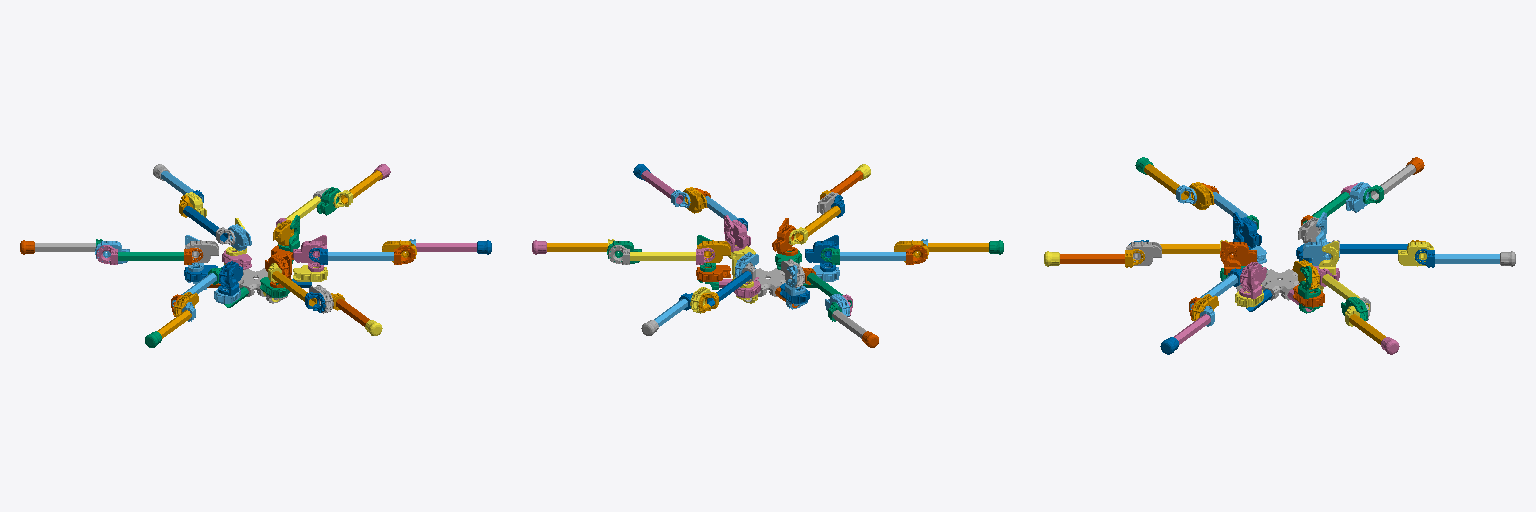
--- Facts derived from the render (not from the file) ---
3 views of the same robot in one strip: view 1: azimuth 30°, elevation 25°; view 2: azimuth 150°, elevation 25°; view 3: azimuth 270°, elevation 25° (orthographic).
Robot: HEBI_Hexapod_1 — 74 links, 73 joints (18 revolute, 55 fixed); root link base_link; default pose: all joints at 0.
Visible links, largest first — view 1: tubepar_60Z, tubepar_54Z, tubepar_57Z, tubepar_47Z; view 2: tubepar_20Z, tubepar_33Z, a_2095_01_6Z, tubepar_17Z, tubepar_26Z; view 3: a_2095_01_6Z, tubepar_36Z, tubepar_66Z, tubepar_73Z, tubepar_39Z, hebi_x5_4_43Z, hebi_x5_4_71Z.
Boxes of the visible links, bbox=[...] form: tubepar_60Z: bbox=[328, 252, 393, 260]; tubepar_54Z: bbox=[118, 252, 183, 260]; tubepar_57Z: bbox=[416, 243, 476, 251]; tubepar_47Z: bbox=[35, 243, 95, 251]; tubepar_20Z: bbox=[840, 252, 905, 260]; tubepar_33Z: bbox=[630, 252, 695, 260]; a_2095_01_6Z: bbox=[756, 268, 785, 296]; tubepar_17Z: bbox=[928, 243, 988, 251]; tubepar_26Z: bbox=[547, 243, 607, 251]; a_2095_01_6Z: bbox=[1261, 269, 1299, 300]; tubepar_36Z: bbox=[1060, 254, 1124, 263]; tubepar_66Z: bbox=[1435, 254, 1499, 263]; tubepar_73Z: bbox=[1340, 244, 1407, 253]; tubepar_39Z: bbox=[1160, 244, 1219, 253]; hebi_x5_4_43Z: bbox=[1126, 241, 1161, 265]; hebi_x5_4_71Z: bbox=[1398, 242, 1433, 266].
Bounding box of the posed robot: 1.31 × 1.39 × 0.1725 m (x, y, z).
Meshes: 73 distinct files referenced, 71 mesh visuals loaded (71 binary STL); not drawn: 2 (reference not matched to a file when rendering).

The robot description file, URDF, robot "HEBI_Hexapod_1":
<?xml version="1.0" ?>
<robot name="HEBI_Hexapod_1">
  <!--
  <link name="world"/>
  <joint name="world_base_link" type="fixed">
    <parent link="world"/>
    <child link="base_link"/>
  </joint>
 -->
  <!--Joints-->
  <joint name="base_link_to_a_2095_01_6Z" type="fixed">
    <parent link="base_link"/>
    <child link="a_2095_01_6Z"/>
  </joint>
  <joint name="a_2095_01_6Z_to_tubepar_11Z" type="fixed">
    <parent link="a_2095_01_6Z"/>
    <child link="tubepar_11Z"/>
    <origin rpy="2.09439510229 -1.57079632679 0.0" xyz="-0.0433012701559 -0.0250000000011 -0.001"/>
  </joint>
  <joint name="tubepar_11Z_to_a_2039_02_10Z" type="fixed">
    <parent link="tubepar_11Z"/>
    <child link="a_2039_02_10Z"/>
    <origin rpy="1.57079632679 2.49978080284e-14 1.57079632679" xyz="-1.66780753732e-18 0.127 -7.1054273576e-18"/>
  </joint>
  <joint name="a_2039_02_10Z_to_hebi_x5_4_16Z" type="fixed">
    <parent link="a_2039_02_10Z"/>
    <child link="hebi_x5_4_16Z"/>
    <origin rpy="1.22464679915e-16 1.04083409e-17 2.3106904246e-14" xyz="0.014 8.42557231529e-17 0.02"/>
  </joint>
  <joint name="Leg6/Hip/X5_4" type="revolute">
    <parent link="hebi_x5_4_16Z"/>
    <child link="a_2070_01r_23Z"/>
    <axis xyz="2.0207829073e-17 -2.27765793957e-16 1.0"/>
    <dynamics damping="0.5" friction="0.06"/>
    <limit effort="100" lower="-0.60" upper="0.60" velocity="100"/>
    <origin rpy="0.0 -3.34767643574e-17 3.14159265359" xyz="6.40449343592e-17 -1.06407608566e-17 0.03"/>
  </joint>
  <gazebo reference="Leg6/Hip/X5_4">
    <implicitSpringDamper>True</implicitSpringDamper>
  </gazebo>
  <joint name="a_2070_01r_23Z_to_hebi_x5_9_18Z" type="fixed">
    <parent link="a_2070_01r_23Z"/>
    <child link="hebi_x5_9_18Z"/>
    <origin rpy="1.57079632679 -6.16297582204e-33 3.14159265359" xyz="-8.631169369e-17 -0.0225277504 0.055"/>
  </joint>
  <joint name="Leg6/Knee/X5_9" type="revolute">
    <parent link="hebi_x5_9_18Z"/>
    <child link="a_2038_02_21Z"/>
    <axis xyz="0.0 -2.27765793957e-16 1.0"/>
    <dynamics damping="0.5" friction="0.06"/>
    <limit effort="100" lower="-0.7" upper="1.6" velocity="100"/>
    <origin rpy="0.0 -1.89345633518e-17 0.0" xyz="-4.61852778244e-17 -6.83297381872e-18 0.03"/>
  </joint>
  <gazebo reference="Leg6/Knee/X5_9">
    <implicitSpringDamper>True</implicitSpringDamper>
  </gazebo>
  <joint name="a_2038_02_21Z_to_tubepar_20Z" type="fixed">
    <parent link="a_2038_02_21Z"/>
    <child link="tubepar_20Z"/>
    <origin rpy="1.57079632679 -1.57079632679 0.0" xyz="0.0135 -9.06738292808e-19 0.02"/>
  </joint>
  <joint name="tubepar_20Z_to_a_2039_02_19Z" type="fixed">
    <parent link="tubepar_20Z"/>
    <child link="a_2039_02_19Z"/>
    <origin rpy="1.57079632679 2.50240867501e-14 -1.57079632679" xyz="-1.42108547152e-17 -0.254 -3.37030956224e-18"/>
  </joint>
  <joint name="a_2039_02_19Z_to_hebi_x5_4_24Z" type="fixed">
    <parent link="a_2039_02_19Z"/>
    <child link="hebi_x5_4_24Z"/>
    <origin rpy="1.22464679915e-16 1.89345633518e-17 2.50240867501e-14" xyz="0.014 3.32405432175e-16 0.02"/>
  </joint>
  <joint name="Leg6/Ankle/X5_4" type="revolute">
    <parent link="hebi_x5_4_24Z"/>
    <child link="a_2038_02_22Z"/>
    <axis xyz="1.11022302463e-15 -2.20826899957e-16 1.0"/>
    <dynamics damping="0.5" friction="0.06"/>
    <limit effort="100" lower="-2.8" upper="2.8" velocity="100"/>
    <origin rpy="6.16297582204e-33 1.89345633518e-17 -3.08148791102e-33" xyz="-5.86197757002e-17 -6.62480699872e-18 0.03"/>
  </joint>
  <gazebo reference="Leg6/Ankle/X5_4">
    <implicitSpringDamper>True</implicitSpringDamper>
  </gazebo>
  <joint name="a_2038_02_22Z_to_tubepar_17Z" type="fixed">
    <parent link="a_2038_02_22Z"/>
    <child link="tubepar_17Z"/>
    <origin rpy="1.57079632679 -1.57079632679 0.0" xyz="0.0135 -1.12622166549e-18 0.02"/>
  </joint>
  <joint name="tubepar_17Z_to_pp_2057_01_44Z" type="fixed">
    <parent link="tubepar_17Z"/>
    <child link="pp_2057_01_44Z"/>
    <origin rpy="-1.57079632679 -1.57079632679 5.09231249648e-17" xyz="-4.26325641456e-17 -0.254 3.37030956224e-18"/>
  </joint>
  <joint name="a_2095_01_6Z_to_tubepar_5Z" type="fixed">
    <parent link="a_2095_01_6Z"/>
    <child link="tubepar_5Z"/>
    <origin rpy="3.14159265359 -1.57079632679 0.0" xyz="1e-23 -0.05 -0.001"/>
  </joint>
  <joint name="tubepar_5Z_to_a_2039_02_12Z" type="fixed">
    <parent link="tubepar_5Z"/>
    <child link="a_2039_02_12Z"/>
    <origin rpy="1.57079632679 2.50240867501e-14 1.57079632679" xyz="1.78563570607e-18 0.076 -5.55111124636e-18"/>
  </joint>
  <joint name="a_2039_02_12Z_to_hebi_x5_4_35Z" type="fixed">
    <parent link="a_2039_02_12Z"/>
    <child link="hebi_x5_4_35Z"/>
    <origin rpy="1.22464679915e-16 1.04083409e-17 2.47905995925e-14" xyz="0.014 3.24017024904e-16 0.02"/>
  </joint>
  <joint name="Leg4/Hip/X5_4" type="revolute">
    <parent link="hebi_x5_4_35Z"/>
    <child link="a_2070_01r_42Z"/>
    <axis xyz="5.08239990574e-17 -1.73472348e-16 1.0"/>
    <dynamics damping="0.5" friction="0.06"/>
    <limit effort="100" lower="-0.60" upper="0.60" velocity="100"/>
    <origin rpy="-1.23259516441e-32 -3.34767643574e-17 3.14159265359" xyz="-5.53186988891e-17 -2.96636102637e-18 0.03"/>
  </joint>
  <gazebo reference="Leg4/Hip/X5_4">
    <implicitSpringDamper>True</implicitSpringDamper>
  </gazebo>
  <joint name="a_2070_01r_42Z_to_hebi_x5_9_37Z" type="fixed">
    <parent link="a_2070_01r_42Z"/>
    <child link="hebi_x5_9_37Z"/>
    <origin rpy="1.57079632679 9.24446373306e-33 3.14159265359" xyz="-1.06622141481e-16 -0.0225277504 0.055"/>
  </joint>
  <joint name="Leg4/Knee/X5_9" type="revolute">
    <parent link="hebi_x5_9_37Z"/>
    <child link="a_2038_02_40Z"/>
    <axis xyz="4.0677583653e-16 -2.27765793957e-16 1.0"/>
    <dynamics damping="0.5" friction="0.06"/>
    <limit effort="100" lower="-0.7" upper="1.6" velocity="100"/>
    <origin rpy="0.0 -2.77555756e-17 0.0" xyz="-7.30618531953e-17 -6.83297381872e-18 0.03"/>
  </joint>
  <gazebo reference="Leg4/Knee/X5_9">
    <implicitSpringDamper>True</implicitSpringDamper>
  </gazebo>
  <joint name="a_2038_02_40Z_to_tubepar_39Z" type="fixed">
    <parent link="a_2038_02_40Z"/>
    <child link="tubepar_39Z"/>
    <origin rpy="1.57079632679 -1.57079632679 0.0" xyz="0.0135 -1.3200565876e-18 0.02"/>
  </joint>
  <joint name="tubepar_39Z_to_a_2039_02_38Z" type="fixed">
    <parent link="tubepar_39Z"/>
    <child link="a_2039_02_38Z"/>
    <origin rpy="1.57079632679 2.50240867501e-14 -1.57079632679" xyz="-3.78956831697e-18 -0.254 4.4061976138e-18"/>
  </joint>
  <joint name="a_2039_02_38Z_to_hebi_x5_4_43Z" type="fixed">
    <parent link="a_2039_02_38Z"/>
    <child link="hebi_x5_4_43Z"/>
    <origin rpy="1.22464679915e-16 1.04083409e-17 2.50240867501e-14" xyz="0.014 3.32834058554e-16 0.02"/>
  </joint>
  <joint name="Leg4/Ankle/X5_4" type="revolute">
    <parent link="hebi_x5_4_43Z"/>
    <child link="a_2038_02_41Z"/>
    <axis xyz="-4.4493975303e-16 -2.20826899957e-16 1.0"/>
    <dynamics damping="0.5" friction="0.06"/>
    <limit effort="100" lower="-2.8" upper="2.8" velocity="100"/>
    <origin rpy="0.0 -2.77555756e-17 0.0" xyz="-7.01916114517e-17 -6.62480699872e-18 0.03"/>
  </joint>
  <gazebo reference="Leg4/Ankle/X5_4">
    <implicitSpringDamper>True</implicitSpringDamper>
  </gazebo>
  <joint name="a_2038_02_41Z_to_tubepar_36Z" type="fixed">
    <parent link="a_2038_02_41Z"/>
    <child link="tubepar_36Z"/>
    <origin rpy="1.57079632679 -1.57079632679 0.0" xyz="0.0135 -1.49237580859e-17 0.02"/>
  </joint>
  <joint name="tubepar_36Z_to_pp_2057_01_45Z" type="fixed">
    <parent link="tubepar_36Z"/>
    <child link="pp_2057_01_45Z"/>
    <origin rpy="-1.57079632679 -1.57079632679 3.88726144769e-19" xyz="6.48879806078e-18 -0.254 9.8046571014e-18"/>
  </joint>
  <joint name="a_2095_01_6Z_to_tubepar_1Z" type="fixed">
    <parent link="a_2095_01_6Z"/>
    <child link="tubepar_1Z"/>
    <origin rpy="-2.09439510229 -1.57079632679 0.0" xyz="0.0433012702137 -0.0249999999987 -0.001"/>
  </joint>
  <joint name="tubepar_1Z_to_a_2039_02_7Z" type="fixed">
    <parent link="tubepar_1Z"/>
    <child link="a_2039_02_7Z"/>
    <origin rpy="1.57079632679 2.50167657815e-14 1.57079632679" xyz="-1.77882983978e-18 0.127 1.29164951977e-34"/>
  </joint>
  <joint name="a_2039_02_7Z_to_hebi_x5_4_56Z" type="fixed">
    <parent link="a_2039_02_7Z"/>
    <child link="hebi_x5_4_56Z"/>
    <origin rpy="1.22464679915e-16 1.04083409e-17 2.30249982575e-14" xyz="0.014 7.18212252771e-17 0.02"/>
  </joint>
  <joint name="Leg2/Hip/X5_4" type="revolute">
    <parent link="hebi_x5_4_56Z"/>
    <child link="a_2070_01r_63Z"/>
    <axis xyz="2.0207829073e-17 -2.27765793957e-16 1.0"/>
    <dynamics damping="0.5" friction="0.06"/>
    <limit effort="100" lower="-0.60" upper="0.60" velocity="100"/>
    <origin rpy="0.0 -3.34767643574e-17 3.14159265359" xyz="6.40449343592e-17 -3.02518678086e-18 0.03"/>
  </joint>
  <gazebo reference="Leg2/Hip/X5_4">
    <implicitSpringDamper>True</implicitSpringDamper>
  </gazebo>
  <joint name="a_2070_01r_63Z_to_hebi_x5_9_58Z" type="fixed">
    <parent link="a_2070_01r_63Z"/>
    <child link="hebi_x5_9_58Z"/>
    <origin rpy="1.57079632679 -0.0 3.14159265359" xyz="-1.36049685193e-16 -0.0225277504 0.055"/>
  </joint>
  <joint name="Leg2/Knee/X5_9" type="revolute">
    <parent link="hebi_x5_9_58Z"/>
    <child link="a_2038_02_61Z"/>
    <axis xyz="1.88737914186e-15 -2.27765793957e-16 1.0"/>
    <dynamics damping="0.5" friction="0.06"/>
    <limit effort="100" lower="-0.7" upper="1.6" velocity="100"/>
    <origin rpy="6.16297582204e-33 6.56929018481e-17 7.70371977755e-33" xyz="-5.3290705182e-17 -6.83297381872e-18 0.03"/>
  </joint>
  <gazebo reference="Leg2/Knee/X5_9">
    <implicitSpringDamper>True</implicitSpringDamper>
  </gazebo>
  <joint name="a_2038_02_61Z_to_tubepar_60Z" type="fixed">
    <parent link="a_2038_02_61Z"/>
    <child link="tubepar_60Z"/>
    <origin rpy="1.57079632679 -1.57079632679 0.0" xyz="0.0135 -9.06738292808e-19 0.02"/>
  </joint>
  <joint name="tubepar_60Z_to_a_2039_02_59Z" type="fixed">
    <parent link="tubepar_60Z"/>
    <child link="a_2039_02_59Z"/>
    <origin rpy="1.57079632679 2.50240867501e-14 -1.57079632679" xyz="0.0 -0.254 -3.37030956224e-18"/>
  </joint>
  <joint name="a_2039_02_59Z_to_hebi_x5_4_64Z" type="fixed">
    <parent link="a_2039_02_59Z"/>
    <child link="hebi_x5_4_64Z"/>
    <origin rpy="1.22464679915e-16 -6.56929018481e-17 2.50240867501e-14" xyz="0.014 3.32405432175e-16 0.02"/>
  </joint>
  <joint name="Leg2/Ankle/X5_4" type="revolute">
    <parent link="hebi_x5_4_64Z"/>
    <child link="a_2038_02_62Z"/>
    <axis xyz="-4.99600361081e-16 -2.20826899957e-16 1.0"/>
    <dynamics damping="0.5" friction="0.06"/>
    <limit effort="100" lower="-2.8" upper="2.8" velocity="100"/>
    <origin rpy="0.0 -6.56929018481e-17 -6.16297582204e-33" xyz="-5.68434188608e-17 -6.62480699872e-18 0.03"/>
  </joint>
  <gazebo reference="Leg2/Ankle/X5_4">
    <implicitSpringDamper>True</implicitSpringDamper>
  </gazebo>
  <joint name="a_2038_02_62Z_to_tubepar_57Z" type="fixed">
    <parent link="a_2038_02_62Z"/>
    <child link="tubepar_57Z"/>
    <origin rpy="1.57079632679 -1.57079632679 0.0" xyz="0.0135 -1.12622166549e-18 0.02"/>
  </joint>
  <joint name="tubepar_57Z_to_pp_2057_01_14Z" type="fixed">
    <parent link="tubepar_57Z"/>
    <child link="pp_2057_01_14Z"/>
    <origin rpy="-1.57079632679 -1.57079632679 -2.54615624824e-17" xyz="2.84217094304e-17 -0.254 3.37030956224e-18"/>
  </joint>
  <joint name="a_2095_01_6Z_to_tubepar_9Z" type="fixed">
    <parent link="a_2095_01_6Z"/>
    <child link="tubepar_9Z"/>
    <origin rpy="-2.09439510229 -1.57079632679 0.0" xyz="-0.0433012701559 0.0250000000011 -0.001"/>
  </joint>
  <joint name="tubepar_9Z_to_a_2039_02_13Z" type="fixed">
    <parent link="tubepar_9Z"/>
    <child link="a_2039_02_13Z"/>
    <origin rpy="-1.57079632679 -2.50167657815e-14 -1.57079632679" xyz="1.13495302842e-19 -0.127 2.27373675443e-16"/>
  </joint>
  <joint name="a_2039_02_13Z_to_hebi_x5_4_53Z" type="fixed">
    <parent link="a_2039_02_13Z"/>
    <child link="hebi_x5_4_53Z"/>
    <origin rpy="1.22464679915e-16 1.04083409e-17 2.30249982575e-14" xyz="0.014 3.08964863337e-16 0.02"/>
  </joint>
  <joint name="Leg5/Hip/X5_4" type="revolute">
    <parent link="hebi_x5_4_53Z"/>
    <child link="a_2070_01l_48Z"/>
    <axis xyz="-4.1024510873e-17 -2.27765793957e-16 1.0"/>
    <dynamics damping="0.5" friction="0.06"/>
    <limit effort="100" lower="-0.60" upper="0.60" velocity="100"/>
    <origin rpy="-1.23259516441e-32 8.89879155574e-17 3.14159265359" xyz="6.22079641608e-17 -3.02518678086e-18 0.03"/>
  </joint>
  <gazebo reference="Leg5/Hip/X5_4">
    <implicitSpringDamper>True</implicitSpringDamper>
  </gazebo>
  <joint name="a_2070_01l_48Z_to_hebi_x5_9_46Z" type="fixed">
    <parent link="a_2070_01l_48Z"/>
    <child link="hebi_x5_9_46Z"/>
    <origin rpy="-1.57079632679 6.12323399574e-17 -3.14159265359" xyz="-5.94814061184e-17 0.0225 0.055"/>
  </joint>
  <joint name="Leg5/Knee/X5_9" type="revolute">
    <parent link="hebi_x5_9_46Z"/>
    <child link="a_2038_02_50Z"/>
    <axis xyz="-1.05471187339e-15 -2.27765793957e-16 1.0"/>
    <dynamics damping="0.5" friction="0.06"/>
    <limit effort="100" lower="-1.6" upper="0.7" velocity="100"/>
    <origin rpy="6.16297582204e-33 -5.08187337107e-17 1.54074395551e-33" xyz="-7.1054273576e-18 -6.83297381872e-18 0.03"/>
  </joint>
  <gazebo reference="Leg5/Knee/X5_9">
    <implicitSpringDamper>True</implicitSpringDamper>
  </gazebo>
  <joint name="a_2038_02_50Z_to_tubepar_54Z" type="fixed">
    <parent link="a_2038_02_50Z"/>
    <child link="tubepar_54Z"/>
    <origin rpy="1.57079632679 -1.57079632679 0.0" xyz="0.0135 -1.26499954533e-18 0.02"/>
  </joint>
  <joint name="tubepar_54Z_to_a_2039_02_51Z" type="fixed">
    <parent link="tubepar_54Z"/>
    <child link="a_2039_02_51Z"/>
    <origin rpy="1.57079632679 2.50240867501e-14 -1.57079632679" xyz="1.42108547152e-17 -0.254 3.37030955933e-18"/>
  </joint>
  <joint name="a_2039_02_51Z_to_hebi_x5_4_52Z" type="fixed">
    <parent link="a_2039_02_51Z"/>
    <child link="hebi_x5_4_52Z"/>
    <origin rpy="1.22464679915e-16 5.08187337107e-17 2.50240867501e-14" xyz="0.014 3.46987817078e-16 0.02"/>
  </joint>
  <joint name="Leg5/Ankle/X5_4" type="revolute">
    <parent link="hebi_x5_4_52Z"/>
    <child link="a_2038_02_49Z"/>
    <axis xyz="3.33066907388e-16 -2.20826899957e-16 1.0"/>
    <dynamics damping="0.5" friction="0.06"/>
    <limit effort="100" lower="-2.8" upper="2.8" velocity="100"/>
    <origin rpy="0.0 5.08187337107e-17 -4.62223186653e-33" xyz="-1.36779476634e-16 -6.62480699872e-18 0.03"/>
  </joint>
  <gazebo reference="Leg5/Ankle/X5_4">
    <implicitSpringDamper>True</implicitSpringDamper>
  </gazebo>
  <joint name="a_2038_02_49Z_to_tubepar_47Z" type="fixed">
    <parent link="a_2038_02_49Z"/>
    <child link="tubepar_47Z"/>
    <origin rpy="1.57079632679 -1.57079632679 0.0" xyz="0.0135 -7.67960412962e-19 0.02"/>
  </joint>
  <joint name="tubepar_47Z_to_pp_2057_01_55Z" type="fixed">
    <parent link="tubepar_47Z"/>
    <child link="pp_2057_01_55Z"/>
    <origin rpy="-1.57079632679 -1.57079632679 -1.04956059088e-16" xyz="1.42108547152e-17 -0.254 1.08405451559e-17"/>
  </joint>
  <joint name="a_2095_01_6Z_to_tubepar_4Z" type="fixed">
    <parent link="a_2095_01_6Z"/>
    <child link="tubepar_4Z"/>
    <origin rpy="2.09439510229 -1.57079632679 0.0" xyz="0.0433012701559 0.0250000000011 -0.001"/>
  </joint>
  <joint name="tubepar_4Z_to_a_2039_02_2Z" type="fixed">
    <parent link="tubepar_4Z"/>
    <child link="a_2039_02_2Z"/>
    <origin rpy="-1.57079632679 -2.49978080284e-14 -1.57079632679" xyz="1.13495302842e-19 -0.127 2.13162820728e-16"/>
  </joint>
  <joint name="a_2039_02_2Z_to_hebi_x5_4_32Z" type="fixed">
    <parent link="a_2039_02_2Z"/>
    <child link="hebi_x5_4_32Z"/>
    <origin rpy="1.22464679915e-16 1.04083409e-17 2.3106904246e-14" xyz="0.014 3.15182112275e-16 0.02"/>
  </joint>
  <joint name="Leg1/Hip/X5_4" type="revolute">
    <parent link="hebi_x5_4_32Z"/>
    <child link="a_2070_01l_27Z"/>
    <axis xyz="-4.1024510873e-17 -2.27765793957e-16 1.0"/>
    <dynamics damping="0.5" friction="0.06"/>
    <limit effort="100" lower="-0.60" upper="0.60" velocity="100"/>
    <origin rpy="-1.23259516441e-32 8.89879155574e-17 3.14159265359" xyz="6.22079641608e-17 -1.06407608566e-17 0.03"/>
  </joint>
  <gazebo reference="Leg1/Hip/X5_4">
    <implicitSpringDamper>True</implicitSpringDamper>
  </gazebo>
  <joint name="a_2070_01l_27Z_to_hebi_x5_9_25Z" type="fixed">
    <parent link="a_2070_01l_27Z"/>
    <child link="hebi_x5_9_25Z"/>
    <origin rpy="-1.57079632679 6.12323399574e-17 -3.14159265359" xyz="-3.1059696688e-17 0.0225 0.055"/>
  </joint>
  <joint name="Leg1/Knee/X5_9" type="revolute">
    <parent link="hebi_x5_9_25Z"/>
    <child link="a_2038_02_29Z"/>
    <axis xyz="1.11022302463e-16 -2.27765793957e-16 1.0"/>
    <dynamics damping="0.5" friction="0.06"/>
    <limit effort="100" lower="-1.6" upper="0.7" velocity="100"/>
    <origin rpy="6.16297582204e-33 -2.17024197421e-17 9.24446373306e-33" xyz="-4.26325641456e-17 -6.83297381872e-18 0.03"/>
  </joint>
  <gazebo reference="Leg1/Knee/X5_9">
    <implicitSpringDamper>True</implicitSpringDamper>
  </gazebo>
  <joint name="a_2038_02_29Z_to_tubepar_33Z" type="fixed">
    <parent link="a_2038_02_29Z"/>
    <child link="tubepar_33Z"/>
    <origin rpy="1.57079632679 -1.57079632679 0.0" xyz="0.0135 -1.26499954533e-18 0.02"/>
  </joint>
  <joint name="tubepar_33Z_to_a_2039_02_30Z" type="fixed">
    <parent link="tubepar_33Z"/>
    <child link="a_2039_02_30Z"/>
    <origin rpy="1.57079632679 2.50240867501e-14 -1.57079632679" xyz="1.42108547152e-17 -0.254 3.37030955933e-18"/>
  </joint>
  <joint name="a_2039_02_30Z_to_hebi_x5_4_31Z" type="fixed">
    <parent link="a_2039_02_30Z"/>
    <child link="hebi_x5_4_31Z"/>
    <origin rpy="1.22464679915e-16 2.17024197421e-17 2.50240867501e-14" xyz="0.014 3.46987817078e-16 0.02"/>
  </joint>
  <joint name="Leg1/Ankle/X5_4" type="revolute">
    <parent link="hebi_x5_4_31Z"/>
    <child link="a_2038_02_28Z"/>
    <axis xyz="2.33146835171e-15 -2.20826899957e-16 1.0"/>
    <dynamics damping="0.5" friction="0.06"/>
    <limit effort="100" lower="-2.8" upper="2.8" velocity="100"/>
    <origin rpy="6.16297582204e-33 2.17024197421e-17 4.62223186653e-33" xyz="-4.4408920985e-17 -6.62480699872e-18 0.03"/>
  </joint>
  <gazebo reference="Leg1/Ankle/X5_4">
    <implicitSpringDamper>True</implicitSpringDamper>
  </gazebo>
  <joint name="a_2038_02_28Z_to_tubepar_26Z" type="fixed">
    <parent link="a_2038_02_28Z"/>
    <child link="tubepar_26Z"/>
    <origin rpy="1.57079632679 -1.57079632679 0.0" xyz="0.0135 -7.67960412962e-19 0.02"/>
  </joint>
  <joint name="tubepar_26Z_to_pp_2057_01_15Z" type="fixed">
    <parent link="tubepar_26Z"/>
    <child link="pp_2057_01_15Z"/>
    <origin rpy="-1.57079632679 -1.57079632679 2.00193964556e-17" xyz="5.68434188608e-17 -0.254 1.08405451559e-17"/>
  </joint>
  <joint name="a_2095_01_6Z_to_tubepar_3Z" type="fixed">
    <parent link="a_2095_01_6Z"/>
    <child link="tubepar_3Z"/>
    <origin rpy="-3.14159265359 -1.57079632679 0.0" xyz="1e-23 0.05 -0.001"/>
  </joint>
  <joint name="tubepar_3Z_to_a_2039_02_8Z" type="fixed">
    <parent link="tubepar_3Z"/>
    <child link="a_2039_02_8Z"/>
    <origin rpy="-1.57079632679 -2.50240867501e-14 -1.57079632679" xyz="2.12765738259e-19 -0.076 -1.00000000003e-23"/>
  </joint>
  <joint name="a_2039_02_8Z_to_hebi_x5_4_72Z" type="fixed">
    <parent link="a_2039_02_8Z"/>
    <child link="hebi_x5_4_72Z"/>
    <origin rpy="1.22464679915e-16 1.04083409e-17 2.4901621895e-14" xyz="0.014 3.34009026003e-16 0.02"/>
  </joint>
  <joint name="Leg3/Hip/X5_4" type="revolute">
    <parent link="hebi_x5_4_72Z"/>
    <child link="a_2070_01l_67Z"/>
    <axis xyz="-7.16406808574e-17 -1.73472348e-16 1.0"/>
    <dynamics damping="0.5" friction="0.06"/>
    <limit effort="100" lower="-0.60" upper="0.60" velocity="100"/>
    <origin rpy="0.0 8.89879155574e-17 3.14159265359" xyz="-5.89926392865e-17 -2.96636102637e-18 0.03"/>
  </joint>
  <gazebo reference="Leg3/Hip/X5_4">
    <implicitSpringDamper>True</implicitSpringDamper>
  </gazebo>
  <joint name="a_2070_01l_67Z_to_hebi_x5_9_65Z" type="fixed">
    <parent link="a_2070_01l_67Z"/>
    <child link="hebi_x5_9_65Z"/>
    <origin rpy="-1.57079632679 6.12323399574e-17 -3.14159265359" xyz="-6.46501244623e-18 0.0225 0.055"/>
  </joint>
  <joint name="Leg3/Knee/X5_9" type="revolute">
    <parent link="hebi_x5_9_65Z"/>
    <child link="a_2038_02_69Z"/>
    <axis xyz="-1.94105535953e-16 -2.27765793957e-16 1.0"/>
    <dynamics damping="0.5" friction="0.06"/>
    <limit effort="100" lower="-1.6" upper="0.7" velocity="100"/>
    <origin rpy="0.0 -2.77555756e-17 0.0" xyz="-3.4244875509e-17 -6.83297381872e-18 0.03"/>
  </joint>
  <gazebo reference="Leg3/Knee/X5_9">
    <implicitSpringDamper>True</implicitSpringDamper>
  </gazebo>
  <joint name="a_2038_02_69Z_to_tubepar_73Z" type="fixed">
    <parent link="a_2038_02_69Z"/>
    <child link="tubepar_73Z"/>
    <origin rpy="1.57079632679 -1.57079632679 0.0" xyz="0.0135 -1.67831784012e-18 0.02"/>
  </joint>
  <joint name="tubepar_73Z_to_a_2039_02_70Z" type="fixed">
    <parent link="tubepar_73Z"/>
    <child link="a_2039_02_70Z"/>
    <origin rpy="1.57079632679 2.50240867501e-14 -1.57079632679" xyz="-3.79674216038e-19 -0.254 1.11468167354e-17"/>
  </joint>
  <joint name="a_2039_02_70Z_to_hebi_x5_4_71Z" type="fixed">
    <parent link="a_2039_02_70Z"/>
    <child link="hebi_x5_4_71Z"/>
    <origin rpy="1.22464679915e-16 1.04083409e-17 2.50240867501e-14" xyz="0.014 3.33205588742e-16 0.02"/>
  </joint>
  <joint name="Leg3/Ankle/X5_4" type="revolute">
    <parent link="hebi_x5_4_71Z"/>
    <child link="a_2038_02_68Z"/>
    <axis xyz="1.55941619453e-16 -2.20826899957e-16 1.0"/>
    <dynamics damping="0.5" friction="0.06"/>
    <limit effort="100" lower="-2.8" upper="2.8" velocity="100"/>
    <origin rpy="0.0 -2.77555756e-17 0.0" xyz="-5.21651702772e-17 -6.62480699872e-18 0.03"/>
  </joint>
  <gazebo reference="Leg3/Ankle/X5_4">
    <implicitSpringDamper>True</implicitSpringDamper>
  </gazebo>
  <joint name="a_2038_02_68Z_to_tubepar_66Z" type="fixed">
    <parent link="a_2038_02_68Z"/>
    <child link="tubepar_66Z"/>
    <origin rpy="1.57079632679 -1.57079632679 0.0" xyz="0.0135 -3.54642118173e-19 0.02"/>
  </joint>
  <joint name="tubepar_66Z_to_pp_2057_01_34Z" type="fixed">
    <parent link="tubepar_66Z"/>
    <child link="pp_2057_01_34Z"/>
    <origin rpy="-1.57079632679 -1.57079632679 0.0" xyz="1.01843313174e-17 -0.254 3.06403797983e-18"/>
  </joint>
  <!--Gazebo Plugins-->
  <gazebo>
    <plugin filename="libhebiros_gazebo_plugin.so" name="hebiros_gazebo_plugin"/>
  </gazebo>
  <!--Links-->
  <link name="base_link">
    <!--Transformation from CyPhy2CAD global reference frame to base_link-->
    <CyPhy2CAD>
      <CADAssembly_metrics>
        <RotationMatrix>
          <Row>
            <Column Value="1.0"/>
            <Column Value="0.0"/>
            <Column Value="0.0"/>
          </Row>
          <Row>
            <Column Value="0.0"/>
            <Column Value="1.0"/>
            <Column Value="0.0"/>
          </Row>
          <Row>
            <Column Value="0.0"/>
            <Column Value="0.0"/>
            <Column Value="1.0"/>
          </Row>
        </RotationMatrix>
        <Translation X="1e-20" Y="1e-20" Z="1e-20"/>
      </CADAssembly_metrics>
    </CyPhy2CAD>
  </link>
  <link name="a_2038_02_22Z">
    <visual>
      <origin rpy="0 0 0" xyz="0.0 0.0 0.0"/>
      <geometry>
        <mesh filename="package://hebihexapod_description/meshes/a_2038_02_22z_prt.stl" scale="0.001 0.001 0.001"/>
      </geometry>
    </visual>
    <collision>
      <origin rpy="0 0 0" xyz="0.0 0.0 0.0"/>
      <geometry>
        <mesh filename="package://hebihexapod_description/meshes/a_2038_02_22z_prt.stl" scale="0.001 0.001 0.001"/>
      </geometry>
    </collision>
    <inertial>
      <origin rpy="0 0 0" xyz="0.0176052907699 0.0 0.0142788404199"/>
      <mass value="0.059108249978877175"/>
      <inertia ixx="2.3632587043e-05" ixy="0.0" ixz="-3.93131579939e-06" iyy="2.03298829586e-05" iyz="0.0" izz="2.72912531732e-05"/>
    </inertial>
  </link>
  <gazebo reference="a_2038_02_22Z">
    <selfCollide>True</selfCollide>
    <material>Gazebo/Black</material>
    <mu1>0.1</mu1>
    <mu2>0.1</mu2>
    <kp>100000</kp>
    <kd>1</kd>
    <minDepth>0.001</minDepth>
    <maxVel>100</maxVel>
  </gazebo>
  <link name="a_2038_02_21Z">
    <visual>
      <origin rpy="0 0 0" xyz="3.88247770998e-17 1.07998184735e-33 -1.04030676747e-17"/>
      <geometry>
        <mesh filename="package://hebihexapod_description/meshes/a_2038_02_21z_prt.stl" scale="0.001 0.001 0.001"/>
      </geometry>
    </visual>
    <collision>
      <origin rpy="0 0 0" xyz="3.88247770998e-17 1.07998184735e-33 -1.04030676747e-17"/>
      <geometry>
        <mesh filename="package://hebihexapod_description/meshes/a_2038_02_21z_prt.stl" scale="0.001 0.001 0.001"/>
      </geometry>
    </collision>
    <inertial>
      <origin rpy="0 0 0" xyz="0.0176052907699 1.07998184735e-33 0.0142788404199"/>
      <mass value="0.059108249978877175"/>
      <inertia ixx="2.3632587043e-05" ixy="0.0" ixz="-3.93131579939e-06" iyy="2.03298829586e-05" iyz="0.0" izz="2.72912531732e-05"/>
    </inertial>
  </link>
  <gazebo reference="a_2038_02_21Z">
    <selfCollide>True</selfCollide>
    <material>Gazebo/Black</material>
    <mu1>0.1</mu1>
    <mu2>0.1</mu2>
    <kp>100000</kp>
    <kd>1</kd>
    <minDepth>0.001</minDepth>
    <maxVel>100</maxVel>
  </gazebo>
  <link name="a_2038_02_40Z">
    <visual>
      <origin rpy="0 0 0" xyz="5.68434188608e-17 -9.86076128129e-34 -2.47002510679e-32"/>
      <geometry>
        <mesh filename="package://hebihexapod_description/meshes/a_2038_02_40z_prt.stl" scale="0.001 0.001 0.001"/>
      </geometry>
    </visual>
    <collision>
      <origin rpy="0 0 0" xyz="5.68434188608e-17 -9.86076128129e-34 -2.47002510679e-32"/>
      <geometry>
        <mesh filename="package://hebihexapod_description/meshes/a_2038_02_40z_prt.stl" scale="0.001 0.001 0.001"/>
      </geometry>
    </collision>
    <inertial>
      <origin rpy="0 0 0" xyz="0.0176052907699 -9.86076128129e-34 0.0142788404199"/>
      <mass value="0.059108249978877175"/>
      <inertia ixx="2.3632587043e-05" ixy="0.0" ixz="-3.93131579939e-06" iyy="2.03298829586e-05" iyz="0.0" izz="2.72912531732e-05"/>
    </inertial>
  </link>
  <gazebo reference="a_2038_02_40Z">
    <selfCollide>True</selfCollide>
    <material>Gazebo/Black</material>
    <mu1>0.1</mu1>
    <mu2>0.1</mu2>
    <kp>100000</kp>
    <kd>1</kd>
    <minDepth>0.001</minDepth>
    <maxVel>100</maxVel>
  </gazebo>
  <link name="a_2038_02_61Z">
    <visual>
      <origin rpy="0 0 0" xyz="5.63332721308e-17 1.62240775448e-33 -1.61147482315e-17"/>
      <geometry>
        <mesh filename="package://hebihexapod_description/meshes/a_2038_02_61z_prt.stl" scale="0.001 0.001 0.001"/>
      </geometry>
    </visual>
    <collision>
      <origin rpy="0 0 0" xyz="5.63332721308e-17 1.62240775448e-33 -1.61147482315e-17"/>
      <geometry>
        <mesh filename="package://hebihexapod_description/meshes/a_2038_02_61z_prt.stl" scale="0.001 0.001 0.001"/>
      </geometry>
    </collision>
    <inertial>
      <origin rpy="0 0 0" xyz="0.0176052907699 1.62240775448e-33 0.0142788404199"/>
      <mass value="0.059108249978877175"/>
      <inertia ixx="2.3632587043e-05" ixy="0.0" ixz="-3.93131579939e-06" iyy="2.03298829586e-05" iyz="0.0" izz="2.72912531732e-05"/>
    </inertial>
  </link>
  <gazebo reference="a_2038_02_61Z">
    <selfCollide>True</selfCollide>
    <material>Gazebo/Black</material>
    <mu1>0.1</mu1>
    <mu2>0.1</mu2>
    <kp>100000</kp>
    <kd>1</kd>
    <minDepth>0.001</minDepth>
    <maxVel>100</maxVel>
  </gazebo>
  <link name="a_2038_02_50Z">
    <visual>
      <origin rpy="0 0 0" xyz="6.3438699487e-17 -1.04850187705e-33 3.80778703786e-18"/>
      <geometry>
        <mesh filename="package://hebihexapod_description/meshes/a_2038_02_50z_prt.stl" scale="0.001 0.001 0.001"/>
      </geometry>
    </visual>
    <collision>
      <origin rpy="0 0 0" xyz="6.3438699487e-17 -1.04850187705e-33 3.80778703786e-18"/>
      <geometry>
        <mesh filename="package://hebihexapod_description/meshes/a_2038_02_50z_prt.stl" scale="0.001 0.001 0.001"/>
      </geometry>
    </collision>
    <inertial>
      <origin rpy="0 0 0" xyz="0.0176052907699 -1.04850187705e-33 0.0142788404199"/>
      <mass value="0.059108249978877175"/>
      <inertia ixx="2.3632587043e-05" ixy="0.0" ixz="-3.93131579939e-06" iyy="2.03298829586e-05" iyz="0.0" izz="2.72912531732e-05"/>
    </inertial>
  </link>
  <gazebo reference="a_2038_02_50Z">
    <selfCollide>True</selfCollide>
    <material>Gazebo/Black</material>
    <mu1>0.1</mu1>
    <mu2>0.1</mu2>
    <kp>100000</kp>
    <kd>1</kd>
    <minDepth>0.001</minDepth>
    <maxVel>100</maxVel>
  </gazebo>
  <link name="a_2038_02_29Z">
    <visual>
      <origin rpy="0 0 0" xyz="7.05441268433e-17 -1.39749490568e-33 8.49917415576e-18"/>
      <geometry>
        <mesh filename="package://hebihexapod_description/meshes/a_2038_02_29z_prt.stl" scale="0.001 0.001 0.001"/>
      </geometry>
    </visual>
    <collision>
      <origin rpy="0 0 0" xyz="7.05441268433e-17 -1.39749490568e-33 8.49917415576e-18"/>
      <geometry>
        <mesh filename="package://hebihexapod_description/meshes/a_2038_02_29z_prt.stl" scale="0.001 0.001 0.001"/>
      </geometry>
    </collision>
    <inertial>
      <origin rpy="0 0 0" xyz="0.0176052907699 -1.39749490568e-33 0.0142788404199"/>
      <mass value="0.059108249978877175"/>
      <inertia ixx="2.3632587043e-05" ixy="0.0" ixz="-3.93131579939e-06" iyy="2.03298829586e-05" iyz="0.0" izz="2.72912531732e-05"/>
    </inertial>
  </link>
  <gazebo reference="a_2038_02_29Z">
    <selfCollide>True</selfCollide>
    <material>Gazebo/Black</material>
    <mu1>0.1</mu1>
    <mu2>0.1</mu2>
    <kp>100000</kp>
    <kd>1</kd>
    <minDepth>0.001</minDepth>
    <maxVel>100</maxVel>
  </gazebo>
  <link name="a_2038_02_69Z">
    <visual>
      <origin rpy="0 0 0" xyz="5.68434188608e-17 -2.4945794199e-33 9.4559004738e-33"/>
      <geometry>
        <mesh filename="package://hebihexapod_description/meshes/a_2038_02_69z_prt.stl" scale="0.001 0.001 0.001"/>
      </geometry>
    </visual>
    <collision>
      <origin rpy="0 0 0" xyz="5.68434188608e-17 -2.4945794199e-33 9.4559004738e-33"/>
      <geometry>
        <mesh filename="package://hebihexapod_description/meshes/a_2038_02_69z_prt.stl" scale="0.001 0.001 0.001"/>
      </geometry>
    </collision>
    <inertial>
      <origin rpy="0 0 0" xyz="0.0176052907699 -2.4945794199e-33 0.0142788404199"/>
      <mass value="0.059108249978877175"/>
      <inertia ixx="2.3632587043e-05" ixy="0.0" ixz="-3.93131579939e-06" iyy="2.03298829586e-05" iyz="0.0" izz="2.72912531732e-05"/>
    </inertial>
  </link>
  <gazebo reference="a_2038_02_69Z">
    <selfCollide>True</selfCollide>
    <material>Gazebo/Black</material>
    <mu1>0.1</mu1>
    <mu2>0.1</mu2>
    <kp>100000</kp>
    <kd>1</kd>
    <minDepth>0.001</minDepth>
    <maxVel>100</maxVel>
  </gazebo>
  <link name="a_2038_02_41Z">
    <visual>
      <origin rpy="0 0 0" xyz="5.68434188608e-17 -1.42108547152e-17 2.29426186673e-32"/>
      <geometry>
        <mesh filename="package://hebihexapod_description/meshes/a_2038_02_41z_prt.stl" scale="0.001 0.001 0.001"/>
      </geometry>
    </visual>
    <collision>
      <origin rpy="0 0 0" xyz="5.68434188608e-17 -1.42108547152e-17 2.29426186673e-32"/>
      <geometry>
        <mesh filename="package://hebihexapod_description/meshes/a_2038_02_41z_prt.stl" scale="0.001 0.001 0.001"/>
      </geometry>
    </collision>
    <inertial>
      <origin rpy="0 0 0" xyz="0.0176052907699 -1.42108547152e-17 0.0142788404199"/>
      <mass value="0.059108249978877175"/>
      <inertia ixx="2.3632587043e-05" ixy="0.0" ixz="-3.93131579939e-06" iyy="2.03298829586e-05" iyz="0.0" izz="2.72912531732e-05"/>
    </inertial>
  </link>
  <gazebo reference="a_2038_02_41Z">
    <selfCollide>True</selfCollide>
    <material>Gazebo/Black</material>
    <mu1>0.1</mu1>
    <mu2>0.1</mu2>
    <kp>100000</kp>
    <kd>1</kd>
    <minDepth>0.001</minDepth>
    <maxVel>100</maxVel>
  </gazebo>
  <link name="a_2038_02_62Z">
    <visual>
      <origin rpy="0 0 0" xyz="4.92278447745e-17 -1.99909840219e-33 2.84217094251e-17"/>
      <geometry>
        <mesh filename="package://hebihexapod_description/meshes/a_2038_02_62z_prt.stl" scale="0.001 0.001 0.001"/>
      </geometry>
    </visual>
    <collision>
      <origin rpy="0 0 0" xyz="4.92278447745e-17 -1.99909840219e-33 2.84217094251e-17"/>
      <geometry>
        <mesh filename="package://hebihexapod_description/meshes/a_2038_02_62z_prt.stl" scale="0.001 0.001 0.001"/>
      </geometry>
    </collision>
    <inertial>
      <origin rpy="0 0 0" xyz="0.0176052907699 -1.99909840219e-33 0.0142788404199"/>
      <mass value="0.059108249978877175"/>
      <inertia ixx="2.3632587043e-05" ixy="0.0" ixz="-3.93131579939e-06" iyy="2.03298829586e-05" iyz="0.0" izz="2.72912531732e-05"/>
    </inertial>
  </link>
  <gazebo reference="a_2038_02_62Z">
    <selfCollide>True</selfCollide>
    <material>Gazebo/Black</material>
    <mu1>0.1</mu1>
    <mu2>0.1</mu2>
    <kp>100000</kp>
    <kd>1</kd>
    <minDepth>0.001</minDepth>
    <maxVel>100</maxVel>
  </gazebo>
  <link name="a_2038_02_49Z">
    <visual>
      <origin rpy="0 0 0" xyz="7.76495541996e-17 4.50616912148e-35 2.08061353494e-17"/>
      <geometry>
        <mesh filename="package://hebihexapod_description/meshes/a_2038_02_49z_prt.stl" scale="0.001 0.001 0.001"/>
      </geometry>
    </visual>
    <collision>
      <origin rpy="0 0 0" xyz="7.76495541996e-17 4.50616912148e-35 2.08061353494e-17"/>
      <geometry>
        <mesh filename="package://hebihexapod_description/meshes/a_2038_02_49z_prt.stl" scale="0.001 0.001 0.001"/>
      </geometry>
    </collision>
    <inertial>
      <origin rpy="0 0 0" xyz="0.0176052907699 4.50616912148e-35 0.0142788404199"/>
      <mass value="0.059108249978877175"/>
      <inertia ixx="2.3632587043e-05" ixy="0.0" ixz="-3.93131579939e-06" iyy="2.03298829586e-05" iyz="0.0" izz="2.72912531732e-05"/>
    </inertial>
  </link>
  <gazebo reference="a_2038_02_49Z">
    <selfCollide>True</selfCollide>
    <material>Gazebo/Black</material>
    <mu1>0.1</mu1>
    <mu2>0.1</mu2>
    <kp>100000</kp>
    <kd>1</kd>
    <minDepth>0.001</minDepth>
    <maxVel>100</maxVel>
  </gazebo>
  <link name="a_2038_02_28Z">
    <visual>
      <origin rpy="0 0 0" xyz="6.3438699487e-17 6.61447948168e-34 3.80778703786e-18"/>
      <geometry>
        <mesh filename="package://hebihexapod_description/meshes/a_2038_02_28z_prt.stl" scale="0.001 0.001 0.001"/>
      </geometry>
    </visual>
    <collision>
      <origin rpy="0 0 0" xyz="6.3438699487e-17 6.61447948168e-34 3.80778703786e-18"/>
      <geometry>
        <mesh filename="package://hebihexapod_description/meshes/a_2038_02_28z_prt.stl" scale="0.001 0.001 0.001"/>
      </geometry>
    </collision>
    <inertial>
      <origin rpy="0 0 0" xyz="0.0176052907699 6.61447948168e-34 0.0142788404199"/>
      <mass value="0.059108249978877175"/>
      <inertia ixx="2.3632587043e-05" ixy="0.0" ixz="-3.93131579939e-06" iyy="2.03298829586e-05" iyz="0.0" izz="2.72912531732e-05"/>
    </inertial>
  </link>
  <gazebo reference="a_2038_02_28Z">
    <selfCollide>True</selfCollide>
    <material>Gazebo/Black</material>
    <mu1>0.1</mu1>
    <mu2>0.1</mu2>
    <kp>100000</kp>
    <kd>1</kd>
    <minDepth>0.001</minDepth>
    <maxVel>100</maxVel>
  </gazebo>
  <link name="a_2038_02_68Z">
    <visual>
      <origin rpy="0 0 0" xyz="5.68434188608e-17 2.4945794199e-33 -1.04419766019e-32"/>
      <geometry>
        <mesh filename="package://hebihexapod_description/meshes/a_2038_02_68z_prt.stl" scale="0.001 0.001 0.001"/>
      </geometry>
    </visual>
    <collision>
      <origin rpy="0 0 0" xyz="5.68434188608e-17 2.4945794199e-33 -1.04419766019e-32"/>
      <geometry>
        <mesh filename="package://hebihexapod_description/meshes/a_2038_02_68z_prt.stl" scale="0.001 0.001 0.001"/>
      </geometry>
    </collision>
    <inertial>
      <origin rpy="0 0 0" xyz="0.0176052907699 2.4945794199e-33 0.0142788404199"/>
      <mass value="0.059108249978877175"/>
      <inertia ixx="2.3632587043e-05" ixy="0.0" ixz="-3.93131579939e-06" iyy="2.03298829586e-05" iyz="0.0" izz="2.72912531732e-05"/>
    </inertial>
  </link>
  <gazebo reference="a_2038_02_68Z">
    <selfCollide>True</selfCollide>
    <material>Gazebo/Black</material>
    <mu1>0.1</mu1>
    <mu2>0.1</mu2>
    <kp>100000</kp>
    <kd>1</kd>
    <minDepth>0.001</minDepth>
    <maxVel>100</maxVel>
  </gazebo>
  <link name="a_2039_02_19Z">
    <visual>
      <origin rpy="0 0 0" xyz="0.014 3.4661628689e-16 0.02"/>
      <geometry>
        <mesh filename="package://hebihexapod_description/meshes/a_2039_02_19z_prt.stl" scale="0.001 0.001 0.001"/>
      </geometry>
    </visual>
    <collision>
      <origin rpy="0 0 0" xyz="0.014 3.4661628689e-16 0.02"/>
      <geometry>
        <mesh filename="package://hebihexapod_description/meshes/a_2039_02_19z_prt.stl" scale="0.001 0.001 0.001"/>
      </geometry>
    </collision>
    <inertial>
      <origin rpy="0 0 0" xyz="0.00256411047128 3.4661628689e-16 0.00833404763152"/>
      <mass value="0.08075605008850124"/>
      <inertia ixx="3.54766366127e-05" ixy="0.0" ixz="-8.29679742245e-06" iyy="3.7139980371e-05" iyz="0.0" izz="5.23238184568e-05"/>
    </inertial>
  </link>
  <gazebo reference="a_2039_02_19Z">
    <selfCollide>True</selfCollide>
    <material>Gazebo/Black</material>
    <mu1>0.1</mu1>
    <mu2>0.1</mu2>
    <kp>100000</kp>
    <kd>1</kd>
    <minDepth>0.001</minDepth>
    <maxVel>100</maxVel>
  </gazebo>
  <link name="a_2039_02_10Z">
    <visual>
      <origin rpy="0 0 0" xyz="0.014 9.66902210287e-17 0.02"/>
      <geometry>
        <mesh filename="package://hebihexapod_description/meshes/a_2039_02_10z_prt.stl" scale="0.001 0.001 0.001"/>
      </geometry>
    </visual>
    <collision>
      <origin rpy="0 0 0" xyz="0.014 9.66902210287e-17 0.02"/>
      <geometry>
        <mesh filename="package://hebihexapod_description/meshes/a_2039_02_10z_prt.stl" scale="0.001 0.001 0.001"/>
      </geometry>
    </collision>
    <inertial>
      <origin rpy="0 0 0" xyz="0.00256411047128 9.66902210287e-17 0.00833404763152"/>
      <mass value="0.08075605008850124"/>
      <inertia ixx="3.54766366127e-05" ixy="0.0" ixz="-8.29679742245e-06" iyy="3.7139980371e-05" iyz="0.0" izz="5.23238184568e-05"/>
    </inertial>
  </link>
  <gazebo reference="a_2039_02_10Z">
    <selfCollide>True</selfCollide>
    <material>Gazebo/Black</material>
    <mu1>0.1</mu1>
    <mu2>0.1</mu2>
    <kp>100000</kp>
    <kd>1</kd>
    <minDepth>0.001</minDepth>
    <maxVel>100</maxVel>
  </gazebo>
  <link name="a_2039_02_12Z">
    <visual>
      <origin rpy="0 0 0" xyz="0.014 3.37895902752e-16 0.02"/>
      <geometry>
        <mesh filename="package://hebihexapod_description/meshes/a_2039_02_12z_prt.stl" scale="0.001 0.001 0.001"/>
      </geometry>
    </visual>
    <collision>
      <origin rpy="0 0 0" xyz="0.014 3.37895902752e-16 0.02"/>
      <geometry>
        <mesh filename="package://hebihexapod_description/meshes/a_2039_02_12z_prt.stl" scale="0.001 0.001 0.001"/>
      </geometry>
    </collision>
    <inertial>
      <origin rpy="0 0 0" xyz="0.00256411047128 3.37895902752e-16 0.00833404763152"/>
      <mass value="0.08075605008850124"/>
      <inertia ixx="3.54766366127e-05" ixy="0.0" ixz="-8.29679742245e-06" iyy="3.7139980371e-05" iyz="0.0" izz="5.23238184568e-05"/>
    </inertial>
  </link>
  <gazebo reference="a_2039_02_12Z">
    <selfCollide>True</selfCollide>
    <material>Gazebo/Black</material>
    <mu1>0.1</mu1>
    <mu2>0.1</mu2>
    <kp>100000</kp>
    <kd>1</kd>
    <minDepth>0.001</minDepth>
    <maxVel>100</maxVel>
  </gazebo>
  <link name="a_2039_02_7Z">
    <visual>
      <origin rpy="0 0 0" xyz="0.014 8.42557231529e-17 0.02"/>
      <geometry>
        <mesh filename="package://hebihexapod_description/meshes/a_2039_02_7z_prt.stl" scale="0.001 0.001 0.001"/>
      </geometry>
    </visual>
    <collision>
      <origin rpy="0 0 0" xyz="0.014 8.42557231529e-17 0.02"/>
      <geometry>
        <mesh filename="package://hebihexapod_description/meshes/a_2039_02_7z_prt.stl" scale="0.001 0.001 0.001"/>
      </geometry>
    </collision>
    <inertial>
      <origin rpy="0 0 0" xyz="0.00256411047128 8.42557231529e-17 0.00833404763152"/>
      <mass value="0.08075605008850124"/>
      <inertia ixx="3.54766366127e-05" ixy="0.0" ixz="-8.29679742245e-06" iyy="3.7139980371e-05" iyz="0.0" izz="5.23238184568e-05"/>
    </inertial>
  </link>
  <gazebo reference="a_2039_02_7Z">
    <selfCollide>True</selfCollide>
    <material>Gazebo/Black</material>
    <mu1>0.1</mu1>
    <mu2>0.1</mu2>
    <kp>100000</kp>
    <kd>1</kd>
    <minDepth>0.001</minDepth>
    <maxVel>100</maxVel>
  </gazebo>
  <link name="a_2039_02_13Z">
    <visual>
      <origin rpy="0 0 0" xyz="0.014 3.21399361213e-16 0.02"/>
      <geometry>
        <mesh filename="package://hebihexapod_description/meshes/a_2039_02_13z_prt.stl" scale="0.001 0.001 0.001"/>
      </geometry>
    </visual>
    <collision>
      <origin rpy="0 0 0" xyz="0.014 3.21399361213e-16 0.02"/>
      <geometry>
        <mesh filename="package://hebihexapod_description/meshes/a_2039_02_13z_prt.stl" scale="0.001 0.001 0.001"/>
      </geometry>
    </collision>
    <inertial>
      <origin rpy="0 0 0" xyz="0.00256411047128 3.21399361213e-16 0.00833404763152"/>
      <mass value="0.08075605008850124"/>
      <inertia ixx="3.54766366127e-05" ixy="0.0" ixz="-8.29679742245e-06" iyy="3.7139980371e-05" iyz="0.0" izz="5.23238184568e-05"/>
    </inertial>
  </link>
  <gazebo reference="a_2039_02_13Z">
    <selfCollide>True</selfCollide>
    <material>Gazebo/Black</material>
    <mu1>0.1</mu1>
    <mu2>0.1</mu2>
    <kp>100000</kp>
    <kd>1</kd>
    <minDepth>0.001</minDepth>
    <maxVel>100</maxVel>
  </gazebo>
  <link name="a_2039_02_2Z">
    <visual>
      <origin rpy="0 0 0" xyz="0.014 3.27616610151e-16 0.02"/>
      <geometry>
        <mesh filename="package://hebihexapod_description/meshes/a_2039_02_2z_prt.stl" scale="0.001 0.001 0.001"/>
      </geometry>
    </visual>
    <collision>
      <origin rpy="0 0 0" xyz="0.014 3.27616610151e-16 0.02"/>
      <geometry>
        <mesh filename="package://hebihexapod_description/meshes/a_2039_02_2z_prt.stl" scale="0.001 0.001 0.001"/>
      </geometry>
    </collision>
    <inertial>
      <origin rpy="0 0 0" xyz="0.00256411047128 3.27616610151e-16 0.00833404763152"/>
      <mass value="0.08075605008850124"/>
      <inertia ixx="3.54766366127e-05" ixy="0.0" ixz="-8.29679742245e-06" iyy="3.7139980371e-05" iyz="0.0" izz="5.23238184568e-05"/>
    </inertial>
  </link>
  <gazebo reference="a_2039_02_2Z">
    <selfCollide>True</selfCollide>
    <material>Gazebo/Black</material>
    <mu1>0.1</mu1>
    <mu2>0.1</mu2>
    <kp>100000</kp>
    <kd>1</kd>
    <minDepth>0.001</minDepth>
    <maxVel>100</maxVel>
  </gazebo>
  <link name="a_2039_02_8Z">
    <visual>
      <origin rpy="0 0 0" xyz="0.014 3.47887903851e-16 0.02"/>
      <geometry>
        <mesh filename="package://hebihexapod_description/meshes/a_2039_02_8z_prt.stl" scale="0.001 0.001 0.001"/>
      </geometry>
    </visual>
    <collision>
      <origin rpy="0 0 0" xyz="0.014 3.47887903851e-16 0.02"/>
      <geometry>
        <mesh filename="package://hebihexapod_description/meshes/a_2039_02_8z_prt.stl" scale="0.001 0.001 0.001"/>
      </geometry>
    </collision>
    <inertial>
      <origin rpy="0 0 0" xyz="0.00256411047128 3.47887903851e-16 0.00833404763152"/>
      <mass value="0.08075605008850124"/>
      <inertia ixx="3.54766366127e-05" ixy="0.0" ixz="-8.29679742245e-06" iyy="3.7139980371e-05" iyz="0.0" izz="5.23238184568e-05"/>
    </inertial>
  </link>
  <gazebo reference="a_2039_02_8Z">
    <selfCollide>True</selfCollide>
    <material>Gazebo/Black</material>
    <mu1>0.1</mu1>
    <mu2>0.1</mu2>
    <kp>100000</kp>
    <kd>1</kd>
    <minDepth>0.001</minDepth>
    <maxVel>100</maxVel>
  </gazebo>
  <link name="a_2039_02_38Z">
    <visual>
      <origin rpy="0 0 0" xyz="0.014 3.4704491327e-16 0.02"/>
      <geometry>
        <mesh filename="package://hebihexapod_description/meshes/a_2039_02_38z_prt.stl" scale="0.001 0.001 0.001"/>
      </geometry>
    </visual>
    <collision>
      <origin rpy="0 0 0" xyz="0.014 3.4704491327e-16 0.02"/>
      <geometry>
        <mesh filename="package://hebihexapod_description/meshes/a_2039_02_38z_prt.stl" scale="0.001 0.001 0.001"/>
      </geometry>
    </collision>
    <inertial>
      <origin rpy="0 0 0" xyz="0.00256411047128 3.4704491327e-16 0.00833404763152"/>
      <mass value="0.08075605008850124"/>
      <inertia ixx="3.54766366127e-05" ixy="0.0" ixz="-8.29679742245e-06" iyy="3.7139980371e-05" iyz="0.0" izz="5.23238184568e-05"/>
    </inertial>
  </link>
  <gazebo reference="a_2039_02_38Z">
    <selfCollide>True</selfCollide>
    <material>Gazebo/Black</material>
    <mu1>0.1</mu1>
    <mu2>0.1</mu2>
    <kp>100000</kp>
    <kd>1</kd>
    <minDepth>0.001</minDepth>
    <maxVel>100</maxVel>
  </gazebo>
  <link name="a_2039_02_59Z">
    <visual>
      <origin rpy="0 0 0" xyz="0.014 3.4661628689e-16 0.02"/>
      <geometry>
        <mesh filename="package://hebihexapod_description/meshes/a_2039_02_59z_prt.stl" scale="0.001 0.001 0.001"/>
      </geometry>
    </visual>
    <collision>
      <origin rpy="0 0 0" xyz="0.014 3.4661628689e-16 0.02"/>
      <geometry>
        <mesh filename="package://hebihexapod_description/meshes/a_2039_02_59z_prt.stl" scale="0.001 0.001 0.001"/>
      </geometry>
    </collision>
    <inertial>
      <origin rpy="0 0 0" xyz="0.00256411047128 3.4661628689e-16 0.00833404763152"/>
      <mass value="0.08075605008850124"/>
      <inertia ixx="3.54766366127e-05" ixy="0.0" ixz="-8.29679742245e-06" iyy="3.7139980371e-05" iyz="0.0" izz="5.23238184568e-05"/>
    </inertial>
  </link>
  <gazebo reference="a_2039_02_59Z">
    <selfCollide>True</selfCollide>
    <material>Gazebo/Black</material>
    <mu1>0.1</mu1>
    <mu2>0.1</mu2>
    <kp>100000</kp>
    <kd>1</kd>
    <minDepth>0.001</minDepth>
    <maxVel>100</maxVel>
  </gazebo>
  <link name="a_2039_02_51Z">
    <visual>
      <origin rpy="0 0 0" xyz="0.014 3.61198671793e-16 0.02"/>
      <geometry>
        <mesh filename="package://hebihexapod_description/meshes/a_2039_02_51z_prt.stl" scale="0.001 0.001 0.001"/>
      </geometry>
    </visual>
    <collision>
      <origin rpy="0 0 0" xyz="0.014 3.61198671793e-16 0.02"/>
      <geometry>
        <mesh filename="package://hebihexapod_description/meshes/a_2039_02_51z_prt.stl" scale="0.001 0.001 0.001"/>
      </geometry>
    </collision>
    <inertial>
      <origin rpy="0 0 0" xyz="0.00256411047128 3.61198671793e-16 0.00833404763152"/>
      <mass value="0.08075605008850124"/>
      <inertia ixx="3.54766366127e-05" ixy="0.0" ixz="-8.29679742245e-06" iyy="3.7139980371e-05" iyz="0.0" izz="5.23238184568e-05"/>
    </inertial>
  </link>
  <gazebo reference="a_2039_02_51Z">
    <selfCollide>True</selfCollide>
    <material>Gazebo/Black</material>
    <mu1>0.1</mu1>
    <mu2>0.1</mu2>
    <kp>100000</kp>
    <kd>1</kd>
    <minDepth>0.001</minDepth>
    <maxVel>100</maxVel>
  </gazebo>
  <link name="a_2039_02_30Z">
    <visual>
      <origin rpy="0 0 0" xyz="0.014 3.61198671793e-16 0.02"/>
      <geometry>
        <mesh filename="package://hebihexapod_description/meshes/a_2039_02_30z_prt.stl" scale="0.001 0.001 0.001"/>
      </geometry>
    </visual>
    <collision>
      <origin rpy="0 0 0" xyz="0.014 3.61198671793e-16 0.02"/>
      <geometry>
        <mesh filename="package://hebihexapod_description/meshes/a_2039_02_30z_prt.stl" scale="0.001 0.001 0.001"/>
      </geometry>
    </collision>
    <inertial>
      <origin rpy="0 0 0" xyz="0.00256411047128 3.61198671793e-16 0.00833404763152"/>
      <mass value="0.08075605008850124"/>
      <inertia ixx="3.54766366127e-05" ixy="0.0" ixz="-8.29679742245e-06" iyy="3.7139980371e-05" iyz="0.0" izz="5.23238184568e-05"/>
    </inertial>
  </link>
  <gazebo reference="a_2039_02_30Z">
    <selfCollide>True</selfCollide>
    <material>Gazebo/Black</material>
    <mu1>0.1</mu1>
    <mu2>0.1</mu2>
    <kp>100000</kp>
    <kd>1</kd>
    <minDepth>0.001</minDepth>
    <maxVel>100</maxVel>
  </gazebo>
  <link name="a_2039_02_70Z">
    <visual>
      <origin rpy="0 0 0" xyz="0.014 3.47416443457e-16 0.02"/>
      <geometry>
        <mesh filename="package://hebihexapod_description/meshes/a_2039_02_70z_prt.stl" scale="0.001 0.001 0.001"/>
      </geometry>
    </visual>
    <collision>
      <origin rpy="0 0 0" xyz="0.014 3.47416443457e-16 0.02"/>
      <geometry>
        <mesh filename="package://hebihexapod_description/meshes/a_2039_02_70z_prt.stl" scale="0.001 0.001 0.001"/>
      </geometry>
    </collision>
    <inertial>
      <origin rpy="0 0 0" xyz="0.00256411047128 3.47416443457e-16 0.00833404763152"/>
      <mass value="0.08075605008850124"/>
      <inertia ixx="3.54766366127e-05" ixy="0.0" ixz="-8.29679742245e-06" iyy="3.7139980371e-05" iyz="0.0" izz="5.23238184568e-05"/>
    </inertial>
  </link>
  <gazebo reference="a_2039_02_70Z">
    <selfCollide>True</selfCollide>
    <material>Gazebo/Black</material>
    <mu1>0.1</mu1>
    <mu2>0.1</mu2>
    <kp>100000</kp>
    <kd>1</kd>
    <minDepth>0.001</minDepth>
    <maxVel>100</maxVel>
  </gazebo>
  <link name="a_2070_01l_48Z">
    <visual>
      <origin rpy="0 0 0" xyz="-7.05441268433e-17 8.49917415576e-18 -3.90396082516e-33"/>
      <geometry>
        <mesh filename="package://hebihexapod_description/meshes/a_2070_01l_48z_prt.stl" scale="0.001 0.001 0.001"/>
      </geometry>
    </visual>
    <collision>
      <origin rpy="0 0 0" xyz="-7.05441268433e-17 8.49917415576e-18 -3.90396082516e-33"/>
      <geometry>
        <mesh filename="package://hebihexapod_description/meshes/a_2070_01l_48z_prt.stl" scale="0.001 0.001 0.001"/>
      </geometry>
    </collision>
    <inertial>
      <origin rpy="0 0 0" xyz="-0.00460051668411 0.020607421941 0.0299643349005"/>
      <mass value="0.14516226357761153"/>
      <inertia ixx="0.000161135299555" ixy="4.09000574012e-06" ixz="2.48161255339e-05" iyy="0.000165708676005" iyz="-2.36248220085e-05" izz="6.51133483297e-05"/>
    </inertial>
  </link>
  <gazebo reference="a_2070_01l_48Z">
    <selfCollide>True</selfCollide>
    <material>Gazebo/Black</material>
    <mu1>0.1</mu1>
    <mu2>0.1</mu2>
    <kp>100000</kp>
    <kd>1</kd>
    <minDepth>0.001</minDepth>
    <maxVel>100</maxVel>
  </gazebo>
  <link name="a_2070_01l_27Z">
    <visual>
      <origin rpy="0 0 0" xyz="-4.92278447745e-17 2.84217094251e-17 -4.10146281435e-33"/>
      <geometry>
        <mesh filename="package://hebihexapod_description/meshes/a_2070_01l_27z_prt.stl" scale="0.001 0.001 0.001"/>
      </geometry>
    </visual>
    <collision>
      <origin rpy="0 0 0" xyz="-4.92278447745e-17 2.84217094251e-17 -4.10146281435e-33"/>
      <geometry>
        <mesh filename="package://hebihexapod_description/meshes/a_2070_01l_27z_prt.stl" scale="0.001 0.001 0.001"/>
      </geometry>
    </collision>
    <inertial>
      <origin rpy="0 0 0" xyz="-0.00460051668411 0.020607421941 0.0299643349005"/>
      <mass value="0.14516226357761153"/>
      <inertia ixx="0.000161135299555" ixy="4.09000574012e-06" ixz="2.48161255339e-05" iyy="0.000165708676005" iyz="-2.36248220085e-05" izz="6.51133483297e-05"/>
    </inertial>
  </link>
  <gazebo reference="a_2070_01l_27Z">
    <selfCollide>True</selfCollide>
    <material>Gazebo/Black</material>
    <mu1>0.1</mu1>
    <mu2>0.1</mu2>
    <kp>100000</kp>
    <kd>1</kd>
    <minDepth>0.001</minDepth>
    <maxVel>100</maxVel>
  </gazebo>
  <link name="a_2070_01l_67Z">
    <visual>
      <origin rpy="0 0 0" xyz="-2.84217094304e-17 1.72431352668e-17 -1.54887558465e-33"/>
      <geometry>
        <mesh filename="package://hebihexapod_description/meshes/a_2070_01l_67z_prt.stl" scale="0.001 0.001 0.001"/>
      </geometry>
    </visual>
    <collision>
      <origin rpy="0 0 0" xyz="-2.84217094304e-17 1.72431352668e-17 -1.54887558465e-33"/>
      <geometry>
        <mesh filename="package://hebihexapod_description/meshes/a_2070_01l_67z_prt.stl" scale="0.001 0.001 0.001"/>
      </geometry>
    </collision>
    <inertial>
      <origin rpy="0 0 0" xyz="-0.00460051668411 0.020607421941 0.0299643349005"/>
      <mass value="0.14516226357761153"/>
      <inertia ixx="0.000161135299555" ixy="4.09000574012e-06" ixz="2.48161255339e-05" iyy="0.000165708676005" iyz="-2.36248220085e-05" izz="6.51133483297e-05"/>
    </inertial>
  </link>
  <gazebo reference="a_2070_01l_67Z">
    <selfCollide>True</selfCollide>
    <material>Gazebo/Black</material>
    <mu1>0.1</mu1>
    <mu2>0.1</mu2>
    <kp>100000</kp>
    <kd>1</kd>
    <minDepth>0.001</minDepth>
    <maxVel>100</maxVel>
  </gazebo>
  <link name="a_2070_01r_23Z">
    <visual>
      <origin rpy="0 0 0" xyz="-3.38969076134e-17 -0.0233888752 -0.0110127649"/>
      <geometry>
        <mesh filename="package://hebihexapod_description/meshes/a_2070_01r_23z_prt.stl" scale="0.001 0.001 0.001"/>
      </geometry>
    </visual>
    <collision>
      <origin rpy="0 0 0" xyz="-3.38969076134e-17 -0.0233888752 -0.0110127649"/>
      <geometry>
        <mesh filename="package://hebihexapod_description/meshes/a_2070_01r_23z_prt.stl" scale="0.001 0.001 0.001"/>
      </geometry>
    </collision>
    <inertial>
      <origin rpy="0 0 0" xyz="-0.00460057918879 -0.0206238495531 0.0299643581747"/>
      <mass value="0.14516218582936433"/>
      <inertia ixx="0.000161168825159" ixy="-4.09770453244e-06" ixz="2.48157800091e-05" iyy="0.000165708674864" iyz="2.36665436106e-05" izz="6.51466854419e-05"/>
    </inertial>
  </link>
  <gazebo reference="a_2070_01r_23Z">
    <selfCollide>True</selfCollide>
    <material>Gazebo/Black</material>
    <mu1>0.1</mu1>
    <mu2>0.1</mu2>
    <kp>100000</kp>
    <kd>1</kd>
    <minDepth>0.001</minDepth>
    <maxVel>100</maxVel>
  </gazebo>
  <link name="a_2070_01r_42Z">
    <visual>
      <origin rpy="0 0 0" xyz="-4.83270647395e-17 -0.0233888752 -0.0110127649"/>
      <geometry>
        <mesh filename="package://hebihexapod_description/meshes/a_2070_01r_42z_prt.stl" scale="0.001 0.001 0.001"/>
      </geometry>
    </visual>
    <collision>
      <origin rpy="0 0 0" xyz="-4.83270647395e-17 -0.0233888752 -0.0110127649"/>
      <geometry>
        <mesh filename="package://hebihexapod_description/meshes/a_2070_01r_42z_prt.stl" scale="0.001 0.001 0.001"/>
      </geometry>
    </collision>
    <inertial>
      <origin rpy="0 0 0" xyz="-0.00460057918879 -0.0206238495531 0.0299643581747"/>
      <mass value="0.14516218582936433"/>
      <inertia ixx="0.000161168825159" ixy="-4.09770453244e-06" ixz="2.48157800091e-05" iyy="0.000165708674864" iyz="2.36665436106e-05" izz="6.51466854419e-05"/>
    </inertial>
  </link>
  <gazebo reference="a_2070_01r_42Z">
    <selfCollide>True</selfCollide>
    <material>Gazebo/Black</material>
    <mu1>0.1</mu1>
    <mu2>0.1</mu2>
    <kp>100000</kp>
    <kd>1</kd>
    <minDepth>0.001</minDepth>
    <maxVel>100</maxVel>
  </gazebo>
  <link name="a_2070_01r_63Z">
    <visual>
      <origin rpy="0 0 0" xyz="-8.36348991166e-17 -0.0233888752 -0.0110127649"/>
      <geometry>
        <mesh filename="package://hebihexapod_description/meshes/a_2070_01r_63z_prt.stl" scale="0.001 0.001 0.001"/>
      </geometry>
    </visual>
    <collision>
      <origin rpy="0 0 0" xyz="-8.36348991166e-17 -0.0233888752 -0.0110127649"/>
      <geometry>
        <mesh filename="package://hebihexapod_description/meshes/a_2070_01r_63z_prt.stl" scale="0.001 0.001 0.001"/>
      </geometry>
    </collision>
    <inertial>
      <origin rpy="0 0 0" xyz="-0.00460057918879 -0.0206238495531 0.0299643581747"/>
      <mass value="0.14516218582936433"/>
      <inertia ixx="0.000161168825159" ixy="-4.09770453244e-06" ixz="2.48157800091e-05" iyy="0.000165708674864" iyz="2.36665436106e-05" izz="6.51466854419e-05"/>
    </inertial>
  </link>
  <gazebo reference="a_2070_01r_63Z">
    <selfCollide>True</selfCollide>
    <material>Gazebo/Black</material>
    <mu1>0.1</mu1>
    <mu2>0.1</mu2>
    <kp>100000</kp>
    <kd>1</kd>
    <minDepth>0.001</minDepth>
    <maxVel>100</maxVel>
  </gazebo>
  <link name="a_2095_01_6Z">
    <visual>
      <origin rpy="0 0 0" xyz="1e-23 1e-23 1e-23"/>
      <geometry>
        <mesh filename="package://hebihexapod_description/meshes/a_2095_01_6z_prt.stl" scale="0.001 0.001 0.001"/>
      </geometry>
    </visual>
    <collision>
      <origin rpy="0 0 0" xyz="1e-23 1e-23 1e-23"/>
      <geometry>
        <mesh filename="package://hebihexapod_description/meshes/a_2095_01_6z_prt.stl" scale="0.001 0.001 0.001"/>
      </geometry>
    </collision>
    <inertial>
      <origin rpy="0 0 0" xyz="1e-23 1e-23 0.00602343578398"/>
      <mass value="0.4495849869005886"/>
      <inertia ixx="0.000761142683555" ixy="0.0" ixz="0.0" iyy="0.000761142070916" iyz="0.0" izz="0.00141066589678"/>
    </inertial>
  </link>
  <gazebo reference="a_2095_01_6Z">
    <selfCollide>True</selfCollide>
    <material>Gazebo/Black</material>
    <mu1>0.1</mu1>
    <mu2>0.1</mu2>
    <kp>100000</kp>
    <kd>1</kd>
    <minDepth>0.001</minDepth>
    <maxVel>100</maxVel>
  </gazebo>

  <gazebo>
    <plugin filename="libgazebo_ros_p3d.so" name="position_3d_plugin">
      <bodyName>a_2095_01_6Z</bodyName>
      <topicName>hexapod/p3d</topicName>
      <updateRate>100</updateRate>
    </plugin>
  </gazebo>

  <link name="tubepar_17Z">
    <visual>
      <origin rpy="0 0 0" xyz="-4.26325641456e-17 -0.254 3.37030956224e-18"/>
      <geometry>
        <mesh filename="package://hebihexapod_description/meshes/tubepar_17z_prt.stl" scale="0.001 0.001 0.001"/>
      </geometry>
    </visual>
    <collision>
      <origin rpy="0 0 0" xyz="-4.26325641456e-17 -0.254 3.37030956224e-18"/>
      <geometry>
        <mesh filename="package://hebihexapod_description/meshes/tubepar_17z_prt.stl" scale="0.001 0.001 0.001"/>
      </geometry>
    </collision>
    <inertial>
      <origin rpy="0 0 0" xyz="-4.26325641456e-17 -0.127 3.37030956224e-18"/>
      <mass value="0.10272968429692206"/>
      <inertia ixx="0.000563925833033" ixy="0.0" ixz="0.0" iyy="2.3233638604e-05" iyz="0.0" izz="0.000563925857588"/>
    </inertial>
  </link>
  <gazebo reference="tubepar_17Z">
    <selfCollide>True</selfCollide>
    <material>Gazebo/Grey</material>
    <mu1>0.05</mu1>
    <mu2>0.05</mu2>
    <kp>100000</kp>
    <kd>1</kd>
    <minDepth>0.001</minDepth>
    <maxVel>100</maxVel>
  </gazebo>
  <link name="tubepar_20Z">
    <visual>
      <origin rpy="0 0 0" xyz="-1.42108547152e-17 -0.254 -3.37030956224e-18"/>
      <geometry>
        <mesh filename="package://hebihexapod_description/meshes/tubepar_20z_prt.stl" scale="0.001 0.001 0.001"/>
      </geometry>
    </visual>
    <collision>
      <origin rpy="0 0 0" xyz="-1.42108547152e-17 -0.254 -3.37030956224e-18"/>
      <geometry>
        <mesh filename="package://hebihexapod_description/meshes/tubepar_20z_prt.stl" scale="0.001 0.001 0.001"/>
      </geometry>
    </collision>
    <inertial>
      <origin rpy="0 0 0" xyz="-1.42108547152e-17 -0.127 -3.37030956224e-18"/>
      <mass value="0.10272968429692206"/>
      <inertia ixx="0.000563925833033" ixy="0.0" ixz="0.0" iyy="2.3233638604e-05" iyz="0.0" izz="0.000563925857588"/>
    </inertial>
  </link>
  <gazebo reference="tubepar_20Z">
    <selfCollide>True</selfCollide>
    <material>Gazebo/Grey</material>
    <mu1>0.05</mu1>
    <mu2>0.05</mu2>
    <kp>100000</kp>
    <kd>1</kd>
    <minDepth>0.001</minDepth>
    <maxVel>100</maxVel>
  </gazebo>
  <link name="tubepar_11Z">
    <visual>
      <origin rpy="0 0 0" xyz="1.11022302463e-19 -1.77635683907e-18 -3.07674029841e-18"/>
      <geometry>
        <mesh filename="package://hebihexapod_description/meshes/tubepar_11z_prt.stl" scale="0.001 0.001 0.001"/>
      </geometry>
    </visual>
    <collision>
      <origin rpy="0 0 0" xyz="1.11022302463e-19 -1.77635683907e-18 -3.07674029841e-18"/>
      <geometry>
        <mesh filename="package://hebihexapod_description/meshes/tubepar_11z_prt.stl" scale="0.001 0.001 0.001"/>
      </geometry>
    </collision>
    <inertial>
      <origin rpy="0 0 0" xyz="1.11022302463e-19 0.0635 -3.07674029841e-18"/>
      <mass value="0.05136484214846103"/>
      <inertia ixx="7.48470317633e-05" ixy="0.0" ixz="0.0" iyy="1.1616819302e-05" iyz="0.0" izz="7.48470440408e-05"/>
    </inertial>
  </link>
  <gazebo reference="tubepar_11Z">
    <selfCollide>True</selfCollide>
    <material>Gazebo/Grey</material>
    <mu1>0.05</mu1>
    <mu2>0.05</mu2>
    <kp>100000</kp>
    <kd>1</kd>
    <minDepth>0.001</minDepth>
    <maxVel>100</maxVel>
  </gazebo>
  <link name="tubepar_5Z">
    <visual>
      <origin rpy="0 0 0" xyz="3.39907530978e-34 6.16297151796e-34 -5.55111124636e-18"/>
      <geometry>
        <mesh filename="package://hebihexapod_description/meshes/tubepar_5z_prt.stl" scale="0.001 0.001 0.001"/>
      </geometry>
    </visual>
    <collision>
      <origin rpy="0 0 0" xyz="3.39907530978e-34 6.16297151796e-34 -5.55111124636e-18"/>
      <geometry>
        <mesh filename="package://hebihexapod_description/meshes/tubepar_5z_prt.stl" scale="0.001 0.001 0.001"/>
      </geometry>
    </collision>
    <inertial>
      <origin rpy="0 0 0" xyz="3.39907530978e-34 0.038 -5.55111124636e-18"/>
      <mass value="0.030738015773882205"/>
      <inertia ixx="1.8271137573e-05" ixy="0.0" ixz="0.0" iyy="6.95179737756e-06" iyz="0.0" izz="1.82711229896e-05"/>
    </inertial>
  </link>
  <gazebo reference="tubepar_5Z">
    <selfCollide>True</selfCollide>
    <material>Gazebo/Grey</material>
    <mu1>0.05</mu1>
    <mu2>0.05</mu2>
    <kp>100000</kp>
    <kd>1</kd>
    <minDepth>0.001</minDepth>
    <maxVel>100</maxVel>
  </gazebo>
  <link name="tubepar_1Z">
    <visual>
      <origin rpy="0 0 0" xyz="0.0 0.0 0.0"/>
      <geometry>
        <mesh filename="package://hebihexapod_description/meshes/tubepar_1z_prt.stl" scale="0.001 0.001 0.001"/>
      </geometry>
    </visual>
    <collision>
      <origin rpy="0 0 0" xyz="0.0 0.0 0.0"/>
      <geometry>
        <mesh filename="package://hebihexapod_description/meshes/tubepar_1z_prt.stl" scale="0.001 0.001 0.001"/>
      </geometry>
    </collision>
    <inertial>
      <origin rpy="0 0 0" xyz="0.0 0.0635 0.0"/>
      <mass value="0.05136484214846103"/>
      <inertia ixx="7.48470317633e-05" ixy="0.0" ixz="0.0" iyy="1.1616819302e-05" iyz="0.0" izz="7.48470440408e-05"/>
    </inertial>
  </link>
  <gazebo reference="tubepar_1Z">
    <selfCollide>True</selfCollide>
    <material>Gazebo/Grey</material>
    <mu1>0.05</mu1>
    <mu2>0.05</mu2>
    <kp>100000</kp>
    <kd>1</kd>
    <minDepth>0.001</minDepth>
    <maxVel>100</maxVel>
  </gazebo>
  <link name="tubepar_9Z">
    <visual>
      <origin rpy="0 0 0" xyz="1.13495302842e-19 -0.127 2.27373675443e-16"/>
      <geometry>
        <mesh filename="package://hebihexapod_description/meshes/tubepar_9z_prt.stl" scale="0.001 0.001 0.001"/>
      </geometry>
    </visual>
    <collision>
      <origin rpy="0 0 0" xyz="1.13495302842e-19 -0.127 2.27373675443e-16"/>
      <geometry>
        <mesh filename="package://hebihexapod_description/meshes/tubepar_9z_prt.stl" scale="0.001 0.001 0.001"/>
      </geometry>
    </collision>
    <inertial>
      <origin rpy="0 0 0" xyz="1.13495302842e-19 -0.0635 2.27373675443e-16"/>
      <mass value="0.05136484214846103"/>
      <inertia ixx="7.48470317633e-05" ixy="0.0" ixz="0.0" iyy="1.1616819302e-05" iyz="0.0" izz="7.48470440408e-05"/>
    </inertial>
  </link>
  <gazebo reference="tubepar_9Z">
    <selfCollide>True</selfCollide>
    <material>Gazebo/Grey</material>
    <mu1>0.05</mu1>
    <mu2>0.05</mu2>
    <kp>100000</kp>
    <kd>1</kd>
    <minDepth>0.001</minDepth>
    <maxVel>100</maxVel>
  </gazebo>
  <link name="tubepar_4Z">
    <visual>
      <origin rpy="0 0 0" xyz="1.13495302842e-19 -0.127 2.13162820728e-16"/>
      <geometry>
        <mesh filename="package://hebihexapod_description/meshes/tubepar_4z_prt.stl" scale="0.001 0.001 0.001"/>
      </geometry>
    </visual>
    <collision>
      <origin rpy="0 0 0" xyz="1.13495302842e-19 -0.127 2.13162820728e-16"/>
      <geometry>
        <mesh filename="package://hebihexapod_description/meshes/tubepar_4z_prt.stl" scale="0.001 0.001 0.001"/>
      </geometry>
    </collision>
    <inertial>
      <origin rpy="0 0 0" xyz="1.13495302842e-19 -0.0635 2.13162820728e-16"/>
      <mass value="0.05136484214846103"/>
      <inertia ixx="7.48470317633e-05" ixy="0.0" ixz="0.0" iyy="1.1616819302e-05" iyz="0.0" izz="7.48470440408e-05"/>
    </inertial>
  </link>
  <gazebo reference="tubepar_4Z">
    <selfCollide>True</selfCollide>
    <material>Gazebo/Grey</material>
    <mu1>0.05</mu1>
    <mu2>0.05</mu2>
    <kp>100000</kp>
    <kd>1</kd>
    <minDepth>0.001</minDepth>
    <maxVel>100</maxVel>
  </gazebo>
  <link name="tubepar_3Z">
    <visual>
      <origin rpy="0 0 0" xyz="2.12765738259e-19 -0.076 -1.6123233996e-23"/>
      <geometry>
        <mesh filename="package://hebihexapod_description/meshes/tubepar_3z_prt.stl" scale="0.001 0.001 0.001"/>
      </geometry>
    </visual>
    <collision>
      <origin rpy="0 0 0" xyz="2.12765738259e-19 -0.076 -1.6123233996e-23"/>
      <geometry>
        <mesh filename="package://hebihexapod_description/meshes/tubepar_3z_prt.stl" scale="0.001 0.001 0.001"/>
      </geometry>
    </collision>
    <inertial>
      <origin rpy="0 0 0" xyz="2.12765738259e-19 -0.038 -1.6123233996e-23"/>
      <mass value="0.030738015773882205"/>
      <inertia ixx="1.8271137573e-05" ixy="0.0" ixz="0.0" iyy="6.95179737756e-06" iyz="0.0" izz="1.82711229896e-05"/>
    </inertial>
  </link>
  <gazebo reference="tubepar_3Z">
    <selfCollide>True</selfCollide>
    <material>Gazebo/Grey</material>
    <mu1>0.05</mu1>
    <mu2>0.05</mu2>
    <kp>100000</kp>
    <kd>1</kd>
    <minDepth>0.001</minDepth>
    <maxVel>100</maxVel>
  </gazebo>
  <link name="tubepar_39Z">
    <visual>
      <origin rpy="0 0 0" xyz="-3.78956831697e-18 -0.254 4.4061976138e-18"/>
      <geometry>
        <mesh filename="package://hebihexapod_description/meshes/tubepar_39z_prt.stl" scale="0.001 0.001 0.001"/>
      </geometry>
    </visual>
    <collision>
      <origin rpy="0 0 0" xyz="-3.78956831697e-18 -0.254 4.4061976138e-18"/>
      <geometry>
        <mesh filename="package://hebihexapod_description/meshes/tubepar_39z_prt.stl" scale="0.001 0.001 0.001"/>
      </geometry>
    </collision>
    <inertial>
      <origin rpy="0 0 0" xyz="-3.78956831697e-18 -0.127 4.4061976138e-18"/>
      <mass value="0.10272968429692206"/>
      <inertia ixx="0.000563925833033" ixy="0.0" ixz="0.0" iyy="2.3233638604e-05" iyz="0.0" izz="0.000563925857588"/>
    </inertial>
  </link>
  <gazebo reference="tubepar_39Z">
    <selfCollide>True</selfCollide>
    <material>Gazebo/Grey</material>
    <mu1>0.05</mu1>
    <mu2>0.05</mu2>
    <kp>100000</kp>
    <kd>1</kd>
    <minDepth>0.001</minDepth>
    <maxVel>100</maxVel>
  </gazebo>
  <link name="tubepar_60Z">
    <visual>
      <origin rpy="0 0 0" xyz="0.0 -0.254 -3.37030956224e-18"/>
      <geometry>
        <mesh filename="package://hebihexapod_description/meshes/tubepar_60z_prt.stl" scale="0.001 0.001 0.001"/>
      </geometry>
    </visual>
    <collision>
      <origin rpy="0 0 0" xyz="0.0 -0.254 -3.37030956224e-18"/>
      <geometry>
        <mesh filename="package://hebihexapod_description/meshes/tubepar_60z_prt.stl" scale="0.001 0.001 0.001"/>
      </geometry>
    </collision>
    <inertial>
      <origin rpy="0 0 0" xyz="0.0 -0.127 -3.37030956224e-18"/>
      <mass value="0.10272968429692206"/>
      <inertia ixx="0.000563925833033" ixy="0.0" ixz="0.0" iyy="2.3233638604e-05" iyz="0.0" izz="0.000563925857588"/>
    </inertial>
  </link>
  <gazebo reference="tubepar_60Z">
    <selfCollide>True</selfCollide>
    <material>Gazebo/Grey</material>
    <mu1>0.05</mu1>
    <mu2>0.05</mu2>
    <kp>100000</kp>
    <kd>1</kd>
    <minDepth>0.001</minDepth>
    <maxVel>100</maxVel>
  </gazebo>
  <link name="tubepar_54Z">
    <visual>
      <origin rpy="0 0 0" xyz="1.42108547152e-17 -0.254 3.37030955933e-18"/>
      <geometry>
        <mesh filename="package://hebihexapod_description/meshes/tubepar_54z_prt.stl" scale="0.001 0.001 0.001"/>
      </geometry>
    </visual>
    <collision>
      <origin rpy="0 0 0" xyz="1.42108547152e-17 -0.254 3.37030955933e-18"/>
      <geometry>
        <mesh filename="package://hebihexapod_description/meshes/tubepar_54z_prt.stl" scale="0.001 0.001 0.001"/>
      </geometry>
    </collision>
    <inertial>
      <origin rpy="0 0 0" xyz="1.42108547152e-17 -0.127 3.37030955933e-18"/>
      <mass value="0.10272968429692206"/>
      <inertia ixx="0.000563925833033" ixy="0.0" ixz="0.0" iyy="2.3233638604e-05" iyz="0.0" izz="0.000563925857588"/>
    </inertial>
  </link>
  <gazebo reference="tubepar_54Z">
    <selfCollide>True</selfCollide>
    <material>Gazebo/Grey</material>
    <mu1>0.05</mu1>
    <mu2>0.05</mu2>
    <kp>100000</kp>
    <kd>1</kd>
    <minDepth>0.001</minDepth>
    <maxVel>100</maxVel>
  </gazebo>
  <link name="tubepar_33Z">
    <visual>
      <origin rpy="0 0 0" xyz="1.42108547152e-17 -0.254 3.37030955933e-18"/>
      <geometry>
        <mesh filename="package://hebihexapod_description/meshes/tubepar_33z_prt.stl" scale="0.001 0.001 0.001"/>
      </geometry>
    </visual>
    <collision>
      <origin rpy="0 0 0" xyz="1.42108547152e-17 -0.254 3.37030955933e-18"/>
      <geometry>
        <mesh filename="package://hebihexapod_description/meshes/tubepar_33z_prt.stl" scale="0.001 0.001 0.001"/>
      </geometry>
    </collision>
    <inertial>
      <origin rpy="0 0 0" xyz="1.42108547152e-17 -0.127 3.37030955933e-18"/>
      <mass value="0.10272968429692206"/>
      <inertia ixx="0.000563925833033" ixy="0.0" ixz="0.0" iyy="2.3233638604e-05" iyz="0.0" izz="0.000563925857588"/>
    </inertial>
  </link>
  <gazebo reference="tubepar_33Z">
    <selfCollide>True</selfCollide>
    <material>Gazebo/Grey</material>
    <mu1>0.05</mu1>
    <mu2>0.05</mu2>
    <kp>100000</kp>
    <kd>1</kd>
    <minDepth>0.001</minDepth>
    <maxVel>100</maxVel>
  </gazebo>
  <link name="tubepar_73Z">
    <visual>
      <origin rpy="0 0 0" xyz="-3.79674216038e-19 -0.254 1.11468167354e-17"/>
      <geometry>
        <mesh filename="package://hebihexapod_description/meshes/tubepar_73z_prt.stl" scale="0.001 0.001 0.001"/>
      </geometry>
    </visual>
    <collision>
      <origin rpy="0 0 0" xyz="-3.79674216038e-19 -0.254 1.11468167354e-17"/>
      <geometry>
        <mesh filename="package://hebihexapod_description/meshes/tubepar_73z_prt.stl" scale="0.001 0.001 0.001"/>
      </geometry>
    </collision>
    <inertial>
      <origin rpy="0 0 0" xyz="-3.79674216038e-19 -0.127 1.11468167354e-17"/>
      <mass value="0.10272968429692206"/>
      <inertia ixx="0.000563925833033" ixy="0.0" ixz="0.0" iyy="2.3233638604e-05" iyz="0.0" izz="0.000563925857588"/>
    </inertial>
  </link>
  <gazebo reference="tubepar_73Z">
    <selfCollide>True</selfCollide>
    <material>Gazebo/Grey</material>
    <mu1>0.05</mu1>
    <mu2>0.05</mu2>
    <kp>100000</kp>
    <kd>1</kd>
    <minDepth>0.001</minDepth>
    <maxVel>100</maxVel>
  </gazebo>
  <link name="tubepar_36Z">
    <visual>
      <origin rpy="0 0 0" xyz="6.48879806078e-18 -0.254 9.8046571014e-18"/>
      <geometry>
        <mesh filename="package://hebihexapod_description/meshes/tubepar_36z_prt.stl" scale="0.001 0.001 0.001"/>
      </geometry>
    </visual>
    <collision>
      <origin rpy="0 0 0" xyz="6.48879806078e-18 -0.254 9.8046571014e-18"/>
      <geometry>
        <mesh filename="package://hebihexapod_description/meshes/tubepar_36z_prt.stl" scale="0.001 0.001 0.001"/>
      </geometry>
    </collision>
    <inertial>
      <origin rpy="0 0 0" xyz="6.48879806078e-18 -0.127 9.8046571014e-18"/>
      <mass value="0.10272968429692206"/>
      <inertia ixx="0.000563925833033" ixy="0.0" ixz="0.0" iyy="2.3233638604e-05" iyz="0.0" izz="0.000563925857588"/>
    </inertial>
  </link>
  <gazebo reference="tubepar_36Z">
    <selfCollide>True</selfCollide>
    <material>Gazebo/Grey</material>
    <mu1>0.05</mu1>
    <mu2>0.05</mu2>
    <kp>100000</kp>
    <kd>1</kd>
    <minDepth>0.001</minDepth>
    <maxVel>100</maxVel>
  </gazebo>
  <link name="tubepar_57Z">
    <visual>
      <origin rpy="0 0 0" xyz="2.84217094304e-17 -0.254 3.37030956224e-18"/>
      <geometry>
        <mesh filename="package://hebihexapod_description/meshes/tubepar_57z_prt.stl" scale="0.001 0.001 0.001"/>
      </geometry>
    </visual>
    <collision>
      <origin rpy="0 0 0" xyz="2.84217094304e-17 -0.254 3.37030956224e-18"/>
      <geometry>
        <mesh filename="package://hebihexapod_description/meshes/tubepar_57z_prt.stl" scale="0.001 0.001 0.001"/>
      </geometry>
    </collision>
    <inertial>
      <origin rpy="0 0 0" xyz="2.84217094304e-17 -0.127 3.37030956224e-18"/>
      <mass value="0.10272968429692206"/>
      <inertia ixx="0.000563925833033" ixy="0.0" ixz="0.0" iyy="2.3233638604e-05" iyz="0.0" izz="0.000563925857588"/>
    </inertial>
  </link>
  <gazebo reference="tubepar_57Z">
    <selfCollide>True</selfCollide>
    <material>Gazebo/Grey</material>
    <mu1>0.05</mu1>
    <mu2>0.05</mu2>
    <kp>100000</kp>
    <kd>1</kd>
    <minDepth>0.001</minDepth>
    <maxVel>100</maxVel>
  </gazebo>
  <link name="tubepar_47Z">
    <visual>
      <origin rpy="0 0 0" xyz="1.42108547152e-17 -0.254 1.08405451559e-17"/>
      <geometry>
        <mesh filename="package://hebihexapod_description/meshes/tubepar_47z_prt.stl" scale="0.001 0.001 0.001"/>
      </geometry>
    </visual>
    <collision>
      <origin rpy="0 0 0" xyz="1.42108547152e-17 -0.254 1.08405451559e-17"/>
      <geometry>
        <mesh filename="package://hebihexapod_description/meshes/tubepar_47z_prt.stl" scale="0.001 0.001 0.001"/>
      </geometry>
    </collision>
    <inertial>
      <origin rpy="0 0 0" xyz="1.42108547152e-17 -0.127 1.08405451559e-17"/>
      <mass value="0.10272968429692206"/>
      <inertia ixx="0.000563925833033" ixy="0.0" ixz="0.0" iyy="2.3233638604e-05" iyz="0.0" izz="0.000563925857588"/>
    </inertial>
  </link>
  <gazebo reference="tubepar_47Z">
    <selfCollide>True</selfCollide>
    <material>Gazebo/Grey</material>
    <mu1>0.05</mu1>
    <mu2>0.05</mu2>
    <kp>100000</kp>
    <kd>1</kd>
    <minDepth>0.001</minDepth>
    <maxVel>100</maxVel>
  </gazebo>
  <link name="tubepar_26Z">
    <visual>
      <origin rpy="0 0 0" xyz="5.68434188608e-17 -0.254 1.08405451559e-17"/>
      <geometry>
        <mesh filename="package://hebihexapod_description/meshes/tubepar_26z_prt.stl" scale="0.001 0.001 0.001"/>
      </geometry>
    </visual>
    <collision>
      <origin rpy="0 0 0" xyz="5.68434188608e-17 -0.254 1.08405451559e-17"/>
      <geometry>
        <mesh filename="package://hebihexapod_description/meshes/tubepar_26z_prt.stl" scale="0.001 0.001 0.001"/>
      </geometry>
    </collision>
    <inertial>
      <origin rpy="0 0 0" xyz="5.68434188608e-17 -0.127 1.08405451559e-17"/>
      <mass value="0.10272968429692206"/>
      <inertia ixx="0.000563925833033" ixy="0.0" ixz="0.0" iyy="2.3233638604e-05" iyz="0.0" izz="0.000563925857588"/>
    </inertial>
  </link>
  <gazebo reference="tubepar_26Z">
    <selfCollide>True</selfCollide>
    <material>Gazebo/Grey</material>
    <mu1>0.05</mu1>
    <mu2>0.05</mu2>
    <kp>100000</kp>
    <kd>1</kd>
    <minDepth>0.001</minDepth>
    <maxVel>100</maxVel>
  </gazebo>
  <link name="tubepar_66Z">
    <visual>
      <origin rpy="0 0 0" xyz="1.01843313174e-17 -0.254 3.06403797983e-18"/>
      <geometry>
        <mesh filename="package://hebihexapod_description/meshes/tubepar_66z_prt.stl" scale="0.001 0.001 0.001"/>
      </geometry>
    </visual>
    <collision>
      <origin rpy="0 0 0" xyz="1.01843313174e-17 -0.254 3.06403797983e-18"/>
      <geometry>
        <mesh filename="package://hebihexapod_description/meshes/tubepar_66z_prt.stl" scale="0.001 0.001 0.001"/>
      </geometry>
    </collision>
    <inertial>
      <origin rpy="0 0 0" xyz="1.01843313174e-17 -0.127 3.06403797983e-18"/>
      <mass value="0.10272968429692206"/>
      <inertia ixx="0.000563925833033" ixy="0.0" ixz="0.0" iyy="2.3233638604e-05" iyz="0.0" izz="0.000563925857588"/>
    </inertial>
  </link>
  <gazebo reference="tubepar_66Z">
    <selfCollide>True</selfCollide>
    <material>Gazebo/Grey</material>
    <mu1>0.05</mu1>
    <mu2>0.05</mu2>
    <kp>100000</kp>
    <kd>1</kd>
    <minDepth>0.001</minDepth>
    <maxVel>100</maxVel>
  </gazebo>
  <link name="pp_2057_01_44Z">
    <visual>
      <origin rpy="0 0 0" xyz="-0.000134566925214 -4.15585267242e-17 -0.00787993062438"/>
      <geometry>
        <mesh filename="package://hebihexapod_description/meshes/pp_2057_01_44z_prt.stl" scale="0.001 0.001 0.001"/>
      </geometry>
    </visual>
    <collision>
      <origin rpy="0 0 0" xyz="-0.000134566925214 -4.15585267242e-17 -0.00787993062438"/>
      <geometry>
        <mesh filename="package://hebihexapod_description/meshes/pp_2057_01_44z_prt.stl" scale="0.001 0.001 0.001"/>
      </geometry>
    </collision>
    <inertial>
      <origin rpy="0 0 0" xyz="3.35842464949e-17 -4.15585267242e-17 0.0124571680804"/>
      <mass value="0.04103919786635559"/>
      <inertia ixx="1.36141748695e-05" ixy="0.0" ixz="0.0" iyy="1.36141791296e-05" iyz="0.0" izz="1.31126073334e-05"/>
    </inertial>
  </link>
  <gazebo reference="pp_2057_01_44Z">
    <selfCollide>True</selfCollide>
    <material>Gazebo/Black</material>
    <mu1>0.9</mu1>
    <mu2>0.9</mu2>
    <kp>10000</kp>
    <kd>1</kd>
    <minDepth>0.002</minDepth>
    <maxVel>50</maxVel>
  </gazebo>
  <link name="pp_2057_01_45Z">
    <visual>
      <origin rpy="0 0 0" xyz="-0.000134566925214 -9.84943491805e-18 -0.00787993062438"/>
      <geometry>
        <mesh filename="package://hebihexapod_description/meshes/pp_2057_01_45z_prt.stl" scale="0.001 0.001 0.001"/>
      </geometry>
    </visual>
    <collision>
      <origin rpy="0 0 0" xyz="-0.000134566925214 -9.84943491805e-18 -0.00787993062438"/>
      <geometry>
        <mesh filename="package://hebihexapod_description/meshes/pp_2057_01_45z_prt.stl" scale="0.001 0.001 0.001"/>
      </geometry>
    </collision>
    <inertial>
      <origin rpy="0 0 0" xyz="3.33344463144e-17 -9.84943491805e-18 0.0124571680804"/>
      <mass value="0.04103919786635559"/>
      <inertia ixx="1.36141748695e-05" ixy="0.0" ixz="0.0" iyy="1.36141791296e-05" iyz="0.0" izz="1.31126073334e-05"/>
    </inertial>
  </link>
  <gazebo reference="pp_2057_01_45Z">
    <selfCollide>True</selfCollide>
    <material>Gazebo/Black</material>
    <mu1>0.9</mu1>
    <mu2>0.9</mu2>
    <kp>10000</kp>
    <kd>1</kd>
    <minDepth>0.002</minDepth>
    <maxVel>50</maxVel>
  </gazebo>
  <link name="pp_2057_01_14Z">
    <visual>
      <origin rpy="0 0 0" xyz="-0.000134566925214 -7.7529752722e-17 -0.00787993062438"/>
      <geometry>
        <mesh filename="package://hebihexapod_description/meshes/pp_2057_01_14z_prt.stl" scale="0.001 0.001 0.001"/>
      </geometry>
    </visual>
    <collision>
      <origin rpy="0 0 0" xyz="-0.000134566925214 -7.7529752722e-17 -0.00787993062438"/>
      <geometry>
        <mesh filename="package://hebihexapod_description/meshes/pp_2057_01_14z_prt.stl" scale="0.001 0.001 0.001"/>
      </geometry>
    </collision>
    <inertial>
      <origin rpy="0 0 0" xyz="3.35842464949e-17 -7.7529752722e-17 0.0124571680804"/>
      <mass value="0.04103919786635559"/>
      <inertia ixx="1.36141748695e-05" ixy="0.0" ixz="0.0" iyy="1.36141791296e-05" iyz="0.0" izz="1.31126073334e-05"/>
    </inertial>
  </link>
  <gazebo reference="pp_2057_01_14Z">
    <selfCollide>True</selfCollide>
    <material>Gazebo/Black</material>
    <mu1>0.9</mu1>
    <mu2>0.9</mu2>
    <kp>10000</kp>
    <kd>1</kd>
    <minDepth>0.002</minDepth>
    <maxVel>50</maxVel>
  </gazebo>
  <link name="pp_2057_01_55Z">
    <visual>
      <origin rpy="0 0 0" xyz="-0.000134566925214 8.10100951944e-17 -0.00787993062438"/>
      <geometry>
        <mesh filename="package://hebihexapod_description/meshes/pp_2057_01_55z_prt.stl" scale="0.001 0.001 0.001"/>
      </geometry>
    </visual>
    <collision>
      <origin rpy="0 0 0" xyz="-0.000134566925214 8.10100951944e-17 -0.00787993062438"/>
      <geometry>
        <mesh filename="package://hebihexapod_description/meshes/pp_2057_01_55z_prt.stl" scale="0.001 0.001 0.001"/>
      </geometry>
    </collision>
    <inertial>
      <origin rpy="0 0 0" xyz="3.336220189e-17 8.10100951944e-17 0.0124571680804"/>
      <mass value="0.04103919786635559"/>
      <inertia ixx="1.36141748695e-05" ixy="0.0" ixz="0.0" iyy="1.36141791296e-05" iyz="0.0" izz="1.31126073334e-05"/>
    </inertial>
  </link>
  <gazebo reference="pp_2057_01_55Z">
    <selfCollide>True</selfCollide>
    <material>Gazebo/Black</material>
    <mu1>0.9</mu1>
    <mu2>0.9</mu2>
    <kp>10000</kp>
    <kd>1</kd>
    <minDepth>0.002</minDepth>
    <maxVel>50</maxVel>
  </gazebo>
  <link name="pp_2057_01_15Z">
    <visual>
      <origin rpy="0 0 0" xyz="-0.000134566925214 -2.09424248048e-16 -0.00787993062438"/>
      <geometry>
        <mesh filename="package://hebihexapod_description/meshes/pp_2057_01_15z_prt.stl" scale="0.001 0.001 0.001"/>
      </geometry>
    </visual>
    <collision>
      <origin rpy="0 0 0" xyz="-0.000134566925214 -2.09424248048e-16 -0.00787993062438"/>
      <geometry>
        <mesh filename="package://hebihexapod_description/meshes/pp_2057_01_15z_prt.stl" scale="0.001 0.001 0.001"/>
      </geometry>
    </collision>
    <inertial>
      <origin rpy="0 0 0" xyz="3.336220189e-17 -2.09424248048e-16 0.0124571680804"/>
      <mass value="0.04103919786635559"/>
      <inertia ixx="1.36141748695e-05" ixy="0.0" ixz="0.0" iyy="1.36141791296e-05" iyz="0.0" izz="1.31126073334e-05"/>
    </inertial>
  </link>
  <gazebo reference="pp_2057_01_15Z">
    <selfCollide>True</selfCollide>
    <material>Gazebo/Black</material>
    <mu1>0.9</mu1>
    <mu2>0.9</mu2>
    <kp>10000</kp>
    <kd>1</kd>
    <minDepth>0.002</minDepth>
    <maxVel>50</maxVel>
  </gazebo>
  <link name="pp_2057_01_34Z">
    <visual>
      <origin rpy="0 0 0" xyz="-0.000134566925214 6.73194362611e-18 -0.00787993062438"/>
      <geometry>
        <mesh filename="package://hebihexapod_description/meshes/pp_2057_01_34z_prt.stl" scale="0.001 0.001 0.001"/>
      </geometry>
    </visual>
    <collision>
      <origin rpy="0 0 0" xyz="-0.000134566925214 6.73194362611e-18 -0.00787993062438"/>
      <geometry>
        <mesh filename="package://hebihexapod_description/meshes/pp_2057_01_34z_prt.stl" scale="0.001 0.001 0.001"/>
      </geometry>
    </collision>
    <inertial>
      <origin rpy="0 0 0" xyz="3.31401572851e-17 6.73194362611e-18 0.0124571680804"/>
      <mass value="0.04103919786635559"/>
      <inertia ixx="1.36141748695e-05" ixy="0.0" ixz="0.0" iyy="1.36141791296e-05" iyz="0.0" izz="1.31126073334e-05"/>
    </inertial>
  </link>
  <gazebo reference="pp_2057_01_34Z">
    <selfCollide>True</selfCollide>
    <material>Gazebo/Black</material>
    <mu1>0.9</mu1>
    <mu2>0.9</mu2>
    <kp>10000</kp>
    <kd>1</kd>
    <minDepth>0.002</minDepth>
    <maxVel>50</maxVel>
  </gazebo>
  <link name="hebi_x5_4_24Z">
    <visual>
      <origin rpy="0 0 0" xyz="-5.41788836017e-17 -3.31240349936e-18 0.015"/>
      <geometry>
        <mesh filename="package://hebihexapod_description/meshes/hebi_x5_4_24z_prt.stl" scale="0.001 0.001 0.001"/>
      </geometry>
    </visual>
    <collision>
      <origin rpy="0 0 0" xyz="-5.41788836017e-17 -3.31240349936e-18 0.015"/>
      <geometry>
        <mesh filename="package://hebihexapod_description/meshes/hebi_x5_4_24z_prt.stl" scale="0.001 0.001 0.001"/>
      </geometry>
    </collision>
    <inertial>
      <origin rpy="0 0 0" xyz="-0.0142019322139 -0.00151173442654 0.0150064707722"/>
      <mass value="0.33507040082811385"/>
      <inertia ixx="0.000139243898497" ixy="-1.88809652748e-05" ixz="1.26840661154e-08" iyy="0.000241540500785" iyz="1.28229789324e-07" izz="0.000330481488128"/>
    </inertial>
  </link>
  <gazebo reference="hebi_x5_4_24Z">
    <selfCollide>True</selfCollide>
    <material>Gazebo/Red</material>
    <mu1>0.1</mu1>
    <mu2>0.1</mu2>
    <kp>100000</kp>
    <kd>1</kd>
    <minDepth>0.001</minDepth>
    <maxVel>100</maxVel>
    <sensor name="Leg6/Ankle/imu_sensor" type="imu">
      <always_on>true</always_on>
      <update_rate>100</update_rate>
      <visualize>true</visualize>
      <plugin filename="libgazebo_ros_imu_sensor.so" name="imu_plugin">
        <topicName>/hebiros_gazebo_plugin/imu/Leg6/Ankle</topicName>
        <bodyName>Leg6/Ankle/imu_link</bodyName>
        <updateRateHZ>10.0</updateRateHZ>
        <gaussianNoise>0.0</gaussianNoise>
        <xyzOffset>0.025 0 0.003</xyzOffset>
        <rpyOffset>0 0 0</rpyOffset>
        <frameName>Leg6/Ankle/imu_link</frameName>
      </plugin>
      <pose>0 0 0 0 0 0</pose>
    </sensor>
  </gazebo>
  <link name="hebi_x5_4_16Z">
    <visual>
      <origin rpy="0 0 0" xyz="6.37418169231e-17 -7.22427394722e-18 0.015"/>
      <geometry>
        <mesh filename="package://hebihexapod_description/meshes/hebi_x5_4_16z_prt.stl" scale="0.001 0.001 0.001"/>
      </geometry>
    </visual>
    <collision>
      <origin rpy="0 0 0" xyz="6.37418169231e-17 -7.22427394722e-18 0.015"/>
      <geometry>
        <mesh filename="package://hebihexapod_description/meshes/hebi_x5_4_16z_prt.stl" scale="0.001 0.001 0.001"/>
      </geometry>
    </collision>
    <inertial>
      <origin rpy="0 0 0" xyz="-0.0142019322139 -0.00151173442654 0.0150064707722"/>
      <mass value="0.33507040082811385"/>
      <inertia ixx="0.000139243898497" ixy="-1.88809652748e-05" ixz="1.26840661154e-08" iyy="0.000241540500785" iyz="1.28229789324e-07" izz="0.000330481488128"/>
    </inertial>
  </link>
  <gazebo reference="hebi_x5_4_16Z">
    <selfCollide>True</selfCollide>
    <material>Gazebo/Red</material>
    <mu1>0.1</mu1>
    <mu2>0.1</mu2>
    <kp>100000</kp>
    <kd>1</kd>
    <minDepth>0.001</minDepth>
    <maxVel>100</maxVel>
    <sensor name="Leg6/Hip/imu_sensor" type="imu">
      <always_on>true</always_on>
      <update_rate>100</update_rate>
      <visualize>true</visualize>
      <plugin filename="libgazebo_ros_imu_sensor.so" name="imu_plugin">
        <topicName>/hebiros_gazebo_plugin/imu/Leg6/Hip</topicName>
        <bodyName>Leg6/Hip/imu_link</bodyName>
        <updateRateHZ>10.0</updateRateHZ>
        <gaussianNoise>0.0</gaussianNoise>
        <xyzOffset>0.025 0 0.003</xyzOffset>
        <rpyOffset>0 0 0</rpyOffset>
        <frameName>Leg6/Hip/imu_link</frameName>
      </plugin>
      <pose>0 0 0 0 0 0</pose>
    </sensor>
  </gazebo>
  <link name="hebi_x5_4_35Z">
    <visual>
      <origin rpy="0 0 0" xyz="-5.60810588749e-17 -2.49799181e-18 0.015"/>
      <geometry>
        <mesh filename="package://hebihexapod_description/meshes/hebi_x5_4_35z_prt.stl" scale="0.001 0.001 0.001"/>
      </geometry>
    </visual>
    <collision>
      <origin rpy="0 0 0" xyz="-5.60810588749e-17 -2.49799181e-18 0.015"/>
      <geometry>
        <mesh filename="package://hebihexapod_description/meshes/hebi_x5_4_35z_prt.stl" scale="0.001 0.001 0.001"/>
      </geometry>
    </collision>
    <inertial>
      <origin rpy="0 0 0" xyz="-0.0142019322139 -0.00151173442654 0.0150064707722"/>
      <mass value="0.33507040082811385"/>
      <inertia ixx="0.000139243898497" ixy="-1.88809652748e-05" ixz="1.26840661154e-08" iyy="0.000241540500785" iyz="1.28229789324e-07" izz="0.000330481488128"/>
    </inertial>
  </link>
  <gazebo reference="hebi_x5_4_35Z">
    <selfCollide>True</selfCollide>
    <material>Gazebo/Red</material>
    <mu1>0.1</mu1>
    <mu2>0.1</mu2>
    <kp>100000</kp>
    <kd>1</kd>
    <minDepth>0.001</minDepth>
    <maxVel>100</maxVel>
    <sensor name="Leg4/Hip/imu_sensor" type="imu">
      <always_on>true</always_on>
      <update_rate>100</update_rate>
      <visualize>true</visualize>
      <plugin filename="libgazebo_ros_imu_sensor.so" name="imu_plugin">
        <topicName>/hebiros_gazebo_plugin/imu/Leg4/Hip</topicName>
        <bodyName>Leg4/Hip/imu_link</bodyName>
        <updateRateHZ>10.0</updateRateHZ>
        <gaussianNoise>0.0</gaussianNoise>
        <xyzOffset>0.025 0 0.003</xyzOffset>
        <rpyOffset>0 0 0</rpyOffset>
        <frameName>Leg4/Hip/imu_link</frameName>
      </plugin>
      <pose>0 0 0 0 0 0</pose>
    </sensor>
  </gazebo>
  <link name="hebi_x5_4_56Z">
    <visual>
      <origin rpy="0 0 0" xyz="6.37418169231e-17 3.913001285e-19 0.015"/>
      <geometry>
        <mesh filename="package://hebihexapod_description/meshes/hebi_x5_4_56z_prt.stl" scale="0.001 0.001 0.001"/>
      </geometry>
    </visual>
    <collision>
      <origin rpy="0 0 0" xyz="6.37418169231e-17 3.913001285e-19 0.015"/>
      <geometry>
        <mesh filename="package://hebihexapod_description/meshes/hebi_x5_4_56z_prt.stl" scale="0.001 0.001 0.001"/>
      </geometry>
    </collision>
    <inertial>
      <origin rpy="0 0 0" xyz="-0.0142019322139 -0.00151173442654 0.0150064707722"/>
      <mass value="0.33507040082811385"/>
      <inertia ixx="0.000139243898497" ixy="-1.88809652748e-05" ixz="1.26840661154e-08" iyy="0.000241540500785" iyz="1.28229789324e-07" izz="0.000330481488128"/>
    </inertial>
  </link>
  <gazebo reference="hebi_x5_4_56Z">
    <selfCollide>True</selfCollide>
    <material>Gazebo/Red</material>
    <mu1>0.1</mu1>
    <mu2>0.1</mu2>
    <kp>100000</kp>
    <kd>1</kd>
    <minDepth>0.001</minDepth>
    <maxVel>100</maxVel>
    <sensor name="Leg2/Hip/imu_sensor" type="imu">
      <always_on>true</always_on>
      <update_rate>100</update_rate>
      <visualize>true</visualize>
      <plugin filename="libgazebo_ros_imu_sensor.so" name="imu_plugin">
        <topicName>/hebiros_gazebo_plugin/imu/Leg2/Hip</topicName>
        <bodyName>Leg2/Hip/imu_link</bodyName>
        <updateRateHZ>10.0</updateRateHZ>
        <gaussianNoise>0.0</gaussianNoise>
        <xyzOffset>0.025 0 0.003</xyzOffset>
        <rpyOffset>0 0 0</rpyOffset>
        <frameName>Leg2/Hip/imu_link</frameName>
      </plugin>
      <pose>0 0 0 0 0 0</pose>
    </sensor>
  </gazebo>
  <link name="hebi_x5_4_53Z">
    <visual>
      <origin rpy="0 0 0" xyz="6.28233318239e-17 3.913001285e-19 0.015"/>
      <geometry>
        <mesh filename="package://hebihexapod_description/meshes/hebi_x5_4_53z_prt.stl" scale="0.001 0.001 0.001"/>
      </geometry>
    </visual>
    <collision>
      <origin rpy="0 0 0" xyz="6.28233318239e-17 3.913001285e-19 0.015"/>
      <geometry>
        <mesh filename="package://hebihexapod_description/meshes/hebi_x5_4_53z_prt.stl" scale="0.001 0.001 0.001"/>
      </geometry>
    </collision>
    <inertial>
      <origin rpy="0 0 0" xyz="-0.0142019322139 -0.00151173442654 0.0150064707722"/>
      <mass value="0.33507040082811385"/>
      <inertia ixx="0.000139243898497" ixy="-1.88809652748e-05" ixz="1.26840661154e-08" iyy="0.000241540500785" iyz="1.28229789324e-07" izz="0.000330481488128"/>
    </inertial>
  </link>
  <gazebo reference="hebi_x5_4_53Z">
    <selfCollide>True</selfCollide>
    <material>Gazebo/Red</material>
    <mu1>0.1</mu1>
    <mu2>0.1</mu2>
    <kp>100000</kp>
    <kd>1</kd>
    <minDepth>0.001</minDepth>
    <maxVel>100</maxVel>
    <sensor name="Leg5/Hip/imu_sensor" type="imu">
      <always_on>true</always_on>
      <update_rate>100</update_rate>
      <visualize>true</visualize>
      <plugin filename="libgazebo_ros_imu_sensor.so" name="imu_plugin">
        <topicName>/hebiros_gazebo_plugin/imu/Leg5/Hip</topicName>
        <bodyName>Leg5/Hip/imu_link</bodyName>
        <updateRateHZ>10.0</updateRateHZ>
        <gaussianNoise>0.0</gaussianNoise>
        <xyzOffset>0.025 0 0.003</xyzOffset>
        <rpyOffset>0 0 0</rpyOffset>
        <frameName>Leg5/Hip/imu_link</frameName>
      </plugin>
      <pose>0 0 0 0 0 0</pose>
    </sensor>
  </gazebo>
  <link name="hebi_x5_4_32Z">
    <visual>
      <origin rpy="0 0 0" xyz="6.28233318239e-17 -7.22427394722e-18 0.015"/>
      <geometry>
        <mesh filename="package://hebihexapod_description/meshes/hebi_x5_4_32z_prt.stl" scale="0.001 0.001 0.001"/>
      </geometry>
    </visual>
    <collision>
      <origin rpy="0 0 0" xyz="6.28233318239e-17 -7.22427394722e-18 0.015"/>
      <geometry>
        <mesh filename="package://hebihexapod_description/meshes/hebi_x5_4_32z_prt.stl" scale="0.001 0.001 0.001"/>
      </geometry>
    </collision>
    <inertial>
      <origin rpy="0 0 0" xyz="-0.0142019322139 -0.00151173442654 0.0150064707722"/>
      <mass value="0.33507040082811385"/>
      <inertia ixx="0.000139243898497" ixy="-1.88809652748e-05" ixz="1.26840661154e-08" iyy="0.000241540500785" iyz="1.28229789324e-07" izz="0.000330481488128"/>
    </inertial>
  </link>
  <gazebo reference="hebi_x5_4_32Z">
    <selfCollide>True</selfCollide>
    <material>Gazebo/Red</material>
    <mu1>0.1</mu1>
    <mu2>0.1</mu2>
    <kp>100000</kp>
    <kd>1</kd>
    <minDepth>0.001</minDepth>
    <maxVel>100</maxVel>
    <sensor name="Leg1/Hip/imu_sensor" type="imu">
      <always_on>true</always_on>
      <update_rate>100</update_rate>
      <visualize>true</visualize>
      <plugin filename="libgazebo_ros_imu_sensor.so" name="imu_plugin">
        <topicName>/hebiros_gazebo_plugin/imu/Leg1/Hip</topicName>
        <bodyName>Leg1/Hip/imu_link</bodyName>
        <updateRateHZ>10.0</updateRateHZ>
        <gaussianNoise>0.0</gaussianNoise>
        <xyzOffset>0.025 0 0.003</xyzOffset>
        <rpyOffset>0 0 0</rpyOffset>
        <frameName>Leg1/Hip/imu_link</frameName>
      </plugin>
      <pose>0 0 0 0 0 0</pose>
    </sensor>
  </gazebo>
  <link name="hebi_x5_4_72Z">
    <visual>
      <origin rpy="0 0 0" xyz="-5.79180290737e-17 -2.49799181e-18 0.015"/>
      <geometry>
        <mesh filename="package://hebihexapod_description/meshes/hebi_x5_4_72z_prt.stl" scale="0.001 0.001 0.001"/>
      </geometry>
    </visual>
    <collision>
      <origin rpy="0 0 0" xyz="-5.79180290737e-17 -2.49799181e-18 0.015"/>
      <geometry>
        <mesh filename="package://hebihexapod_description/meshes/hebi_x5_4_72z_prt.stl" scale="0.001 0.001 0.001"/>
      </geometry>
    </collision>
    <inertial>
      <origin rpy="0 0 0" xyz="-0.0142019322139 -0.00151173442654 0.0150064707722"/>
      <mass value="0.33507040082811385"/>
      <inertia ixx="0.000139243898497" ixy="-1.88809652748e-05" ixz="1.26840661154e-08" iyy="0.000241540500785" iyz="1.28229789324e-07" izz="0.000330481488128"/>
    </inertial>
  </link>
  <gazebo reference="hebi_x5_4_72Z">
    <selfCollide>True</selfCollide>
    <material>Gazebo/Red</material>
    <mu1>0.1</mu1>
    <mu2>0.1</mu2>
    <kp>100000</kp>
    <kd>1</kd>
    <minDepth>0.001</minDepth>
    <maxVel>100</maxVel>
    <sensor name="Leg3/Hip/imu_sensor" type="imu">
      <always_on>true</always_on>
      <update_rate>100</update_rate>
      <visualize>true</visualize>
      <plugin filename="libgazebo_ros_imu_sensor.so" name="imu_plugin">
        <topicName>/hebiros_gazebo_plugin/imu/Leg3/Hip</topicName>
        <bodyName>Leg3/Hip/imu_link</bodyName>
        <updateRateHZ>10.0</updateRateHZ>
        <gaussianNoise>0.0</gaussianNoise>
        <xyzOffset>0.025 0 0.003</xyzOffset>
        <rpyOffset>0 0 0</rpyOffset>
        <frameName>Leg3/Hip/imu_link</frameName>
      </plugin>
      <pose>0 0 0 0 0 0</pose>
    </sensor>
  </gazebo>
  <link name="hebi_x5_4_43Z">
    <visual>
      <origin rpy="0 0 0" xyz="-6.35175151563e-17 -3.31240349936e-18 0.015"/>
      <geometry>
        <mesh filename="package://hebihexapod_description/meshes/hebi_x5_4_43z_prt.stl" scale="0.001 0.001 0.001"/>
      </geometry>
    </visual>
    <collision>
      <origin rpy="0 0 0" xyz="-6.35175151563e-17 -3.31240349936e-18 0.015"/>
      <geometry>
        <mesh filename="package://hebihexapod_description/meshes/hebi_x5_4_43z_prt.stl" scale="0.001 0.001 0.001"/>
      </geometry>
    </collision>
    <inertial>
      <origin rpy="0 0 0" xyz="-0.0142019322139 -0.00151173442654 0.0150064707722"/>
      <mass value="0.33507040082811385"/>
      <inertia ixx="0.000139243898497" ixy="-1.88809652748e-05" ixz="1.26840661154e-08" iyy="0.000241540500785" iyz="1.28229789324e-07" izz="0.000330481488128"/>
    </inertial>
  </link>
  <gazebo reference="hebi_x5_4_43Z">
    <selfCollide>True</selfCollide>
    <material>Gazebo/Red</material>
    <mu1>0.1</mu1>
    <mu2>0.1</mu2>
    <kp>100000</kp>
    <kd>1</kd>
    <minDepth>0.001</minDepth>
    <maxVel>100</maxVel>
    <sensor name="Leg4/Ankle/imu_sensor" type="imu">
      <always_on>true</always_on>
      <update_rate>100</update_rate>
      <visualize>true</visualize>
      <plugin filename="libgazebo_ros_imu_sensor.so" name="imu_plugin">
        <topicName>/hebiros_gazebo_plugin/imu/Leg4/Ankle</topicName>
        <bodyName>Leg4/Ankle/imu_link</bodyName>
        <updateRateHZ>10.0</updateRateHZ>
        <gaussianNoise>0.0</gaussianNoise>
        <xyzOffset>0.025 0 0.003</xyzOffset>
        <rpyOffset>0 0 0</rpyOffset>
        <frameName>Leg4/Ankle/imu_link</frameName>
      </plugin>
      <pose>0 0 0 0 0 0</pose>
    </sensor>
  </gazebo>
  <link name="hebi_x5_4_64Z">
    <visual>
      <origin rpy="0 0 0" xyz="-5.95079541199e-17 -3.31240349936e-18 0.015"/>
      <geometry>
        <mesh filename="package://hebihexapod_description/meshes/hebi_x5_4_64z_prt.stl" scale="0.001 0.001 0.001"/>
      </geometry>
    </visual>
    <collision>
      <origin rpy="0 0 0" xyz="-5.95079541199e-17 -3.31240349936e-18 0.015"/>
      <geometry>
        <mesh filename="package://hebihexapod_description/meshes/hebi_x5_4_64z_prt.stl" scale="0.001 0.001 0.001"/>
      </geometry>
    </collision>
    <inertial>
      <origin rpy="0 0 0" xyz="-0.0142019322139 -0.00151173442654 0.0150064707722"/>
      <mass value="0.33507040082811385"/>
      <inertia ixx="0.000139243898497" ixy="-1.88809652748e-05" ixz="1.26840661154e-08" iyy="0.000241540500785" iyz="1.28229789324e-07" izz="0.000330481488128"/>
    </inertial>
  </link>
  <gazebo reference="hebi_x5_4_64Z">
    <selfCollide>True</selfCollide>
    <material>Gazebo/Red</material>
    <mu1>0.1</mu1>
    <mu2>0.1</mu2>
    <kp>100000</kp>
    <kd>1</kd>
    <minDepth>0.001</minDepth>
    <maxVel>100</maxVel>
    <sensor name="Leg2/Ankle/imu_sensor" type="imu">
      <always_on>true</always_on>
      <update_rate>100</update_rate>
      <visualize>true</visualize>
      <plugin filename="libgazebo_ros_imu_sensor.so" name="imu_plugin">
        <topicName>/hebiros_gazebo_plugin/imu/Leg2/Ankle</topicName>
        <bodyName>Leg2/Ankle/imu_link</bodyName>
        <updateRateHZ>10.0</updateRateHZ>
        <gaussianNoise>0.0</gaussianNoise>
        <xyzOffset>0.025 0 0.003</xyzOffset>
        <rpyOffset>0 0 0</rpyOffset>
        <frameName>Leg2/Ankle/imu_link</frameName>
      </plugin>
      <pose>0 0 0 0 0 0</pose>
    </sensor>
  </gazebo>
  <link name="hebi_x5_4_52Z">
    <visual>
      <origin rpy="0 0 0" xyz="-1.32338584535e-16 -3.31240349936e-18 0.015"/>
      <geometry>
        <mesh filename="package://hebihexapod_description/meshes/hebi_x5_4_52z_prt.stl" scale="0.001 0.001 0.001"/>
      </geometry>
    </visual>
    <collision>
      <origin rpy="0 0 0" xyz="-1.32338584535e-16 -3.31240349936e-18 0.015"/>
      <geometry>
        <mesh filename="package://hebihexapod_description/meshes/hebi_x5_4_52z_prt.stl" scale="0.001 0.001 0.001"/>
      </geometry>
    </collision>
    <inertial>
      <origin rpy="0 0 0" xyz="-0.0142019322139 -0.00151173442654 0.0150064707722"/>
      <mass value="0.33507040082811385"/>
      <inertia ixx="0.000139243898497" ixy="-1.88809652748e-05" ixz="1.26840661154e-08" iyy="0.000241540500785" iyz="1.28229789324e-07" izz="0.000330481488128"/>
    </inertial>
  </link>
  <gazebo reference="hebi_x5_4_52Z">
    <selfCollide>True</selfCollide>
    <material>Gazebo/Red</material>
    <mu1>0.1</mu1>
    <mu2>0.1</mu2>
    <kp>100000</kp>
    <kd>1</kd>
    <minDepth>0.001</minDepth>
    <maxVel>100</maxVel>
    <sensor name="Leg5/Ankle/imu_sensor" type="imu">
      <always_on>true</always_on>
      <update_rate>100</update_rate>
      <visualize>true</visualize>
      <plugin filename="libgazebo_ros_imu_sensor.so" name="imu_plugin">
        <topicName>/hebiros_gazebo_plugin/imu/Leg5/Ankle</topicName>
        <bodyName>Leg5/Ankle/imu_link</bodyName>
        <updateRateHZ>10.0</updateRateHZ>
        <gaussianNoise>0.0</gaussianNoise>
        <xyzOffset>0.025 0 0.003</xyzOffset>
        <rpyOffset>0 0 0</rpyOffset>
        <frameName>Leg5/Ankle/imu_link</frameName>
      </plugin>
      <pose>0 0 0 0 0 0</pose>
    </sensor>
  </gazebo>
  <link name="hebi_x5_4_31Z">
    <visual>
      <origin rpy="0 0 0" xyz="-4.70734562441e-17 -3.31240349936e-18 0.015"/>
      <geometry>
        <mesh filename="package://hebihexapod_description/meshes/hebi_x5_4_31z_prt.stl" scale="0.001 0.001 0.001"/>
      </geometry>
    </visual>
    <collision>
      <origin rpy="0 0 0" xyz="-4.70734562441e-17 -3.31240349936e-18 0.015"/>
      <geometry>
        <mesh filename="package://hebihexapod_description/meshes/hebi_x5_4_31z_prt.stl" scale="0.001 0.001 0.001"/>
      </geometry>
    </collision>
    <inertial>
      <origin rpy="0 0 0" xyz="-0.0142019322139 -0.00151173442654 0.0150064707722"/>
      <mass value="0.33507040082811385"/>
      <inertia ixx="0.000139243898497" ixy="-1.88809652748e-05" ixz="1.26840661154e-08" iyy="0.000241540500785" iyz="1.28229789324e-07" izz="0.000330481488128"/>
    </inertial>
  </link>
  <gazebo reference="hebi_x5_4_31Z">
    <selfCollide>True</selfCollide>
    <material>Gazebo/Red</material>
    <mu1>0.1</mu1>
    <mu2>0.1</mu2>
    <kp>100000</kp>
    <kd>1</kd>
    <minDepth>0.001</minDepth>
    <maxVel>100</maxVel>
    <sensor name="Leg1/Ankle/imu_sensor" type="imu">
      <always_on>true</always_on>
      <update_rate>100</update_rate>
      <visualize>true</visualize>
      <plugin filename="libgazebo_ros_imu_sensor.so" name="imu_plugin">
        <topicName>/hebiros_gazebo_plugin/imu/Leg1/Ankle</topicName>
        <bodyName>Leg1/Ankle/imu_link</bodyName>
        <updateRateHZ>10.0</updateRateHZ>
        <gaussianNoise>0.0</gaussianNoise>
        <xyzOffset>0.025 0 0.003</xyzOffset>
        <rpyOffset>0 0 0</rpyOffset>
        <frameName>Leg1/Ankle/imu_link</frameName>
      </plugin>
      <pose>0 0 0 0 0 0</pose>
    </sensor>
  </gazebo>
  <link name="hebi_x5_4_71Z">
    <visual>
      <origin rpy="0 0 0" xyz="-5.4504294569e-17 -3.31240349936e-18 0.015"/>
      <geometry>
        <mesh filename="package://hebihexapod_description/meshes/hebi_x5_4_71z_prt.stl" scale="0.001 0.001 0.001"/>
      </geometry>
    </visual>
    <collision>
      <origin rpy="0 0 0" xyz="-5.4504294569e-17 -3.31240349936e-18 0.015"/>
      <geometry>
        <mesh filename="package://hebihexapod_description/meshes/hebi_x5_4_71z_prt.stl" scale="0.001 0.001 0.001"/>
      </geometry>
    </collision>
    <inertial>
      <origin rpy="0 0 0" xyz="-0.0142019322139 -0.00151173442654 0.0150064707722"/>
      <mass value="0.33507040082811385"/>
      <inertia ixx="0.000139243898497" ixy="-1.88809652748e-05" ixz="1.26840661154e-08" iyy="0.000241540500785" iyz="1.28229789324e-07" izz="0.000330481488128"/>
    </inertial>
  </link>
  <gazebo reference="hebi_x5_4_71Z">
    <selfCollide>True</selfCollide>
    <material>Gazebo/Red</material>
    <mu1>0.1</mu1>
    <mu2>0.1</mu2>
    <kp>100000</kp>
    <kd>1</kd>
    <minDepth>0.001</minDepth>
    <maxVel>100</maxVel>
    <sensor name="Leg3/Ankle/imu_sensor" type="imu">
      <always_on>true</always_on>
      <update_rate>100</update_rate>
      <visualize>true</visualize>
      <plugin filename="libgazebo_ros_imu_sensor.so" name="imu_plugin">
        <topicName>/hebiros_gazebo_plugin/imu/Leg3/Ankle</topicName>
        <bodyName>Leg3/Ankle/imu_link</bodyName>
        <updateRateHZ>10.0</updateRateHZ>
        <gaussianNoise>0.0</gaussianNoise>
        <xyzOffset>0.025 0 0.003</xyzOffset>
        <rpyOffset>0 0 0</rpyOffset>
        <frameName>Leg3/Ankle/imu_link</frameName>
      </plugin>
      <pose>0 0 0 0 0 0</pose>
    </sensor>
  </gazebo>
  <link name="hebi_x5_9_18Z">
    <visual>
      <origin rpy="0 0 0" xyz="-5.15143483426e-17 -3.41648690936e-18 0.015"/>
      <geometry>
        <mesh filename="package://hebihexapod_description/meshes/hebi_x5_9_18z_prt.stl" scale="0.001 0.001 0.001"/>
      </geometry>
    </visual>
    <collision>
      <origin rpy="0 0 0" xyz="-5.15143483426e-17 -3.41648690936e-18 0.015"/>
      <geometry>
        <mesh filename="package://hebihexapod_description/meshes/hebi_x5_9_18z_prt.stl" scale="0.001 0.001 0.001"/>
      </geometry>
    </collision>
    <inertial>
      <origin rpy="0 0 0" xyz="-0.0142019322139 -0.00151173442654 0.0150064707722"/>
      <mass value="0.3601223934133934"/>
      <inertia ixx="0.000149654657264" ixy="-2.029262623e-05" ixz="1.36324075072e-08" iyy="0.000259599603648" iyz="1.37817063293e-07" izz="0.000355190384437"/>
    </inertial>
  </link>
  <gazebo reference="hebi_x5_9_18Z">
    <selfCollide>True</selfCollide>
    <material>Gazebo/Red</material>
    <mu1>0.1</mu1>
    <mu2>0.1</mu2>
    <kp>100000</kp>
    <kd>1</kd>
    <minDepth>0.001</minDepth>
    <maxVel>100</maxVel>
    <sensor name="Leg6/Knee/imu_sensor" type="imu">
      <always_on>true</always_on>
      <update_rate>100</update_rate>
      <visualize>true</visualize>
      <plugin filename="libgazebo_ros_imu_sensor.so" name="imu_plugin">
        <topicName>/hebiros_gazebo_plugin/imu/Leg6/Knee</topicName>
        <bodyName>Leg6/Knee/imu_link</bodyName>
        <updateRateHZ>10.0</updateRateHZ>
        <gaussianNoise>0.0</gaussianNoise>
        <xyzOffset>0.025 0 0.003</xyzOffset>
        <rpyOffset>0 0 0</rpyOffset>
        <frameName>Leg6/Knee/imu_link</frameName>
      </plugin>
      <pose>0 0 0 0 0 0</pose>
    </sensor>
  </gazebo>
  <link name="hebi_x5_9_37Z">
    <visual>
      <origin rpy="0 0 0" xyz="-7.91634907433e-17 -3.41648690936e-18 0.015"/>
      <geometry>
        <mesh filename="package://hebihexapod_description/meshes/hebi_x5_9_37z_prt.stl" scale="0.001 0.001 0.001"/>
      </geometry>
    </visual>
    <collision>
      <origin rpy="0 0 0" xyz="-7.91634907433e-17 -3.41648690936e-18 0.015"/>
      <geometry>
        <mesh filename="package://hebihexapod_description/meshes/hebi_x5_9_37z_prt.stl" scale="0.001 0.001 0.001"/>
      </geometry>
    </collision>
    <inertial>
      <origin rpy="0 0 0" xyz="-0.0142019322139 -0.00151173442654 0.0150064707722"/>
      <mass value="0.3601223934133934"/>
      <inertia ixx="0.000149654657264" ixy="-2.029262623e-05" ixz="1.36324075072e-08" iyy="0.000259599603648" iyz="1.37817063293e-07" izz="0.000355190384437"/>
    </inertial>
  </link>
  <gazebo reference="hebi_x5_9_37Z">
    <selfCollide>True</selfCollide>
    <material>Gazebo/Red</material>
    <mu1>0.1</mu1>
    <mu2>0.1</mu2>
    <kp>100000</kp>
    <kd>1</kd>
    <minDepth>0.001</minDepth>
    <maxVel>100</maxVel>
    <sensor name="Leg4/Knee/imu_sensor" type="imu">
      <always_on>true</always_on>
      <update_rate>100</update_rate>
      <visualize>true</visualize>
      <plugin filename="libgazebo_ros_imu_sensor.so" name="imu_plugin">
        <topicName>/hebiros_gazebo_plugin/imu/Leg4/Knee</topicName>
        <bodyName>Leg4/Knee/imu_link</bodyName>
        <updateRateHZ>10.0</updateRateHZ>
        <gaussianNoise>0.0</gaussianNoise>
        <xyzOffset>0.025 0 0.003</xyzOffset>
        <rpyOffset>0 0 0</rpyOffset>
        <frameName>Leg4/Knee/imu_link</frameName>
      </plugin>
      <pose>0 0 0 0 0 0</pose>
    </sensor>
  </gazebo>
  <link name="hebi_x5_9_58Z">
    <visual>
      <origin rpy="0 0 0" xyz="-4.26325641456e-17 -3.41648690936e-18 0.015"/>
      <geometry>
        <mesh filename="package://hebihexapod_description/meshes/hebi_x5_9_58z_prt.stl" scale="0.001 0.001 0.001"/>
      </geometry>
    </visual>
    <collision>
      <origin rpy="0 0 0" xyz="-4.26325641456e-17 -3.41648690936e-18 0.015"/>
      <geometry>
        <mesh filename="package://hebihexapod_description/meshes/hebi_x5_9_58z_prt.stl" scale="0.001 0.001 0.001"/>
      </geometry>
    </collision>
    <inertial>
      <origin rpy="0 0 0" xyz="-0.0142019322139 -0.00151173442654 0.0150064707722"/>
      <mass value="0.3601223934133934"/>
      <inertia ixx="0.000149654657264" ixy="-2.029262623e-05" ixz="1.36324075072e-08" iyy="0.000259599603648" iyz="1.37817063293e-07" izz="0.000355190384437"/>
    </inertial>
  </link>
  <gazebo reference="hebi_x5_9_58Z">
    <selfCollide>True</selfCollide>
    <material>Gazebo/Red</material>
    <mu1>0.1</mu1>
    <mu2>0.1</mu2>
    <kp>100000</kp>
    <kd>1</kd>
    <minDepth>0.001</minDepth>
    <maxVel>100</maxVel>
    <sensor name="Leg2/Knee/imu_sensor" type="imu">
      <always_on>true</always_on>
      <update_rate>100</update_rate>
      <visualize>true</visualize>
      <plugin filename="libgazebo_ros_imu_sensor.so" name="imu_plugin">
        <topicName>/hebiros_gazebo_plugin/imu/Leg2/Knee</topicName>
        <bodyName>Leg2/Knee/imu_link</bodyName>
        <updateRateHZ>10.0</updateRateHZ>
        <gaussianNoise>0.0</gaussianNoise>
        <xyzOffset>0.025 0 0.003</xyzOffset>
        <rpyOffset>0 0 0</rpyOffset>
        <frameName>Leg2/Knee/imu_link</frameName>
      </plugin>
      <pose>0 0 0 0 0 0</pose>
    </sensor>
  </gazebo>
  <link name="hebi_x5_9_46Z">
    <visual>
      <origin rpy="0 0 0" xyz="-1.95399252334e-17 -3.41648690936e-18 0.015"/>
      <geometry>
        <mesh filename="package://hebihexapod_description/meshes/hebi_x5_9_46z_prt.stl" scale="0.001 0.001 0.001"/>
      </geometry>
    </visual>
    <collision>
      <origin rpy="0 0 0" xyz="-1.95399252334e-17 -3.41648690936e-18 0.015"/>
      <geometry>
        <mesh filename="package://hebihexapod_description/meshes/hebi_x5_9_46z_prt.stl" scale="0.001 0.001 0.001"/>
      </geometry>
    </collision>
    <inertial>
      <origin rpy="0 0 0" xyz="-0.0142019322139 -0.00151173442654 0.0150064707722"/>
      <mass value="0.3601223934133934"/>
      <inertia ixx="0.000149654657264" ixy="-2.029262623e-05" ixz="1.36324075072e-08" iyy="0.000259599603648" iyz="1.37817063293e-07" izz="0.000355190384437"/>
    </inertial>
  </link>
  <gazebo reference="hebi_x5_9_46Z">
    <selfCollide>True</selfCollide>
    <material>Gazebo/Red</material>
    <mu1>0.1</mu1>
    <mu2>0.1</mu2>
    <kp>100000</kp>
    <kd>1</kd>
    <minDepth>0.001</minDepth>
    <maxVel>100</maxVel>
    <sensor name="Leg5/Knee/imu_sensor" type="imu">
      <always_on>true</always_on>
      <update_rate>100</update_rate>
      <visualize>true</visualize>
      <plugin filename="libgazebo_ros_imu_sensor.so" name="imu_plugin">
        <topicName>/hebiros_gazebo_plugin/imu/Leg5/Knee</topicName>
        <bodyName>Leg5/Knee/imu_link</bodyName>
        <updateRateHZ>10.0</updateRateHZ>
        <gaussianNoise>0.0</gaussianNoise>
        <xyzOffset>0.025 0 0.003</xyzOffset>
        <rpyOffset>0 0 0</rpyOffset>
        <frameName>Leg5/Knee/imu_link</frameName>
      </plugin>
      <pose>0 0 0 0 0 0</pose>
    </sensor>
  </gazebo>
  <link name="hebi_x5_9_25Z">
    <visual>
      <origin rpy="0 0 0" xyz="-4.08562073062e-17 -3.41648690936e-18 0.015"/>
      <geometry>
        <mesh filename="package://hebihexapod_description/meshes/hebi_x5_9_25z_prt.stl" scale="0.001 0.001 0.001"/>
      </geometry>
    </visual>
    <collision>
      <origin rpy="0 0 0" xyz="-4.08562073062e-17 -3.41648690936e-18 0.015"/>
      <geometry>
        <mesh filename="package://hebihexapod_description/meshes/hebi_x5_9_25z_prt.stl" scale="0.001 0.001 0.001"/>
      </geometry>
    </collision>
    <inertial>
      <origin rpy="0 0 0" xyz="-0.0142019322139 -0.00151173442654 0.0150064707722"/>
      <mass value="0.3601223934133934"/>
      <inertia ixx="0.000149654657264" ixy="-2.029262623e-05" ixz="1.36324075072e-08" iyy="0.000259599603648" iyz="1.37817063293e-07" izz="0.000355190384437"/>
    </inertial>
  </link>
  <gazebo reference="hebi_x5_9_25Z">
    <selfCollide>True</selfCollide>
    <material>Gazebo/Red</material>
    <mu1>0.1</mu1>
    <mu2>0.1</mu2>
    <kp>100000</kp>
    <kd>1</kd>
    <minDepth>0.001</minDepth>
    <maxVel>100</maxVel>
    <sensor name="Leg1/Knee/imu_sensor" type="imu">
      <always_on>true</always_on>
      <update_rate>100</update_rate>
      <visualize>true</visualize>
      <plugin filename="libgazebo_ros_imu_sensor.so" name="imu_plugin">
        <topicName>/hebiros_gazebo_plugin/imu/Leg1/Knee</topicName>
        <bodyName>Leg1/Knee/imu_link</bodyName>
        <updateRateHZ>10.0</updateRateHZ>
        <gaussianNoise>0.0</gaussianNoise>
        <xyzOffset>0.025 0 0.003</xyzOffset>
        <rpyOffset>0 0 0</rpyOffset>
        <frameName>Leg1/Knee/imu_link</frameName>
      </plugin>
      <pose>0 0 0 0 0 0</pose>
    </sensor>
  </gazebo>
  <link name="hebi_x5_9_65Z">
    <visual>
      <origin rpy="0 0 0" xyz="-3.13332924697e-17 -3.41648690936e-18 0.015"/>
      <geometry>
        <mesh filename="package://hebihexapod_description/meshes/hebi_x5_9_65z_prt.stl" scale="0.001 0.001 0.001"/>
      </geometry>
    </visual>
    <collision>
      <origin rpy="0 0 0" xyz="-3.13332924697e-17 -3.41648690936e-18 0.015"/>
      <geometry>
        <mesh filename="package://hebihexapod_description/meshes/hebi_x5_9_65z_prt.stl" scale="0.001 0.001 0.001"/>
      </geometry>
    </collision>
    <inertial>
      <origin rpy="0 0 0" xyz="-0.0142019322139 -0.00151173442654 0.0150064707722"/>
      <mass value="0.3601223934133934"/>
      <inertia ixx="0.000149654657264" ixy="-2.029262623e-05" ixz="1.36324075072e-08" iyy="0.000259599603648" iyz="1.37817063293e-07" izz="0.000355190384437"/>
    </inertial>
  </link>
  <gazebo reference="hebi_x5_9_65Z">
    <selfCollide>True</selfCollide>
    <material>Gazebo/Red</material>
    <mu1>0.1</mu1>
    <mu2>0.1</mu2>
    <kp>100000</kp>
    <kd>1</kd>
    <minDepth>0.001</minDepth>
    <maxVel>100</maxVel>
    <sensor name="Leg3/Knee/imu_sensor" type="imu">
      <always_on>true</always_on>
      <update_rate>100</update_rate>
      <visualize>true</visualize>
      <plugin filename="libgazebo_ros_imu_sensor.so" name="imu_plugin">
        <topicName>/hebiros_gazebo_plugin/imu/Leg3/Knee</topicName>
        <bodyName>Leg3/Knee/imu_link</bodyName>
        <updateRateHZ>10.0</updateRateHZ>
        <gaussianNoise>0.0</gaussianNoise>
        <xyzOffset>0.025 0 0.003</xyzOffset>
        <rpyOffset>0 0 0</rpyOffset>
        <frameName>Leg3/Knee/imu_link</frameName>
      </plugin>
      <pose>0 0 0 0 0 0</pose>
    </sensor>
  </gazebo>
</robot>
